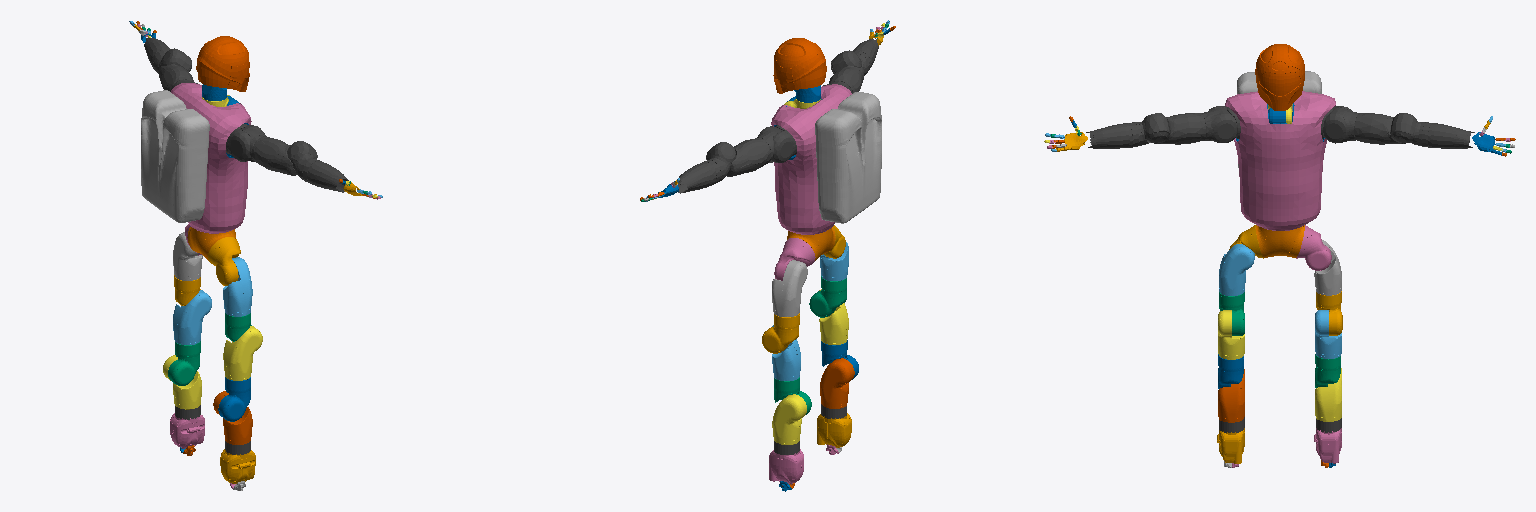
--- Render facts (derived) ---
3 views of the same robot in one strip: view 1: azimuth 30°, elevation 25°; view 2: azimuth 150°, elevation 25°; view 3: azimuth 270°, elevation 25° (orthographic).
Robot: r2 — 128 links, 127 joints (74 revolute, 53 fixed); root link r2/world_ref; default pose: joints at zero except 2 at the middle of their limits (r2/left_arm/joint2 = -2.42, r2/right_arm/joint2 = 2.42).
Visible links, largest first — view 1: r2/backpack, r2/body_cover, r2/head, r2/right_knee, r2/left_knee, r2/right_hip_pitch, r2/right_upper_arm, r2/right_hip_roll, r2/right_lower_leg, r2/left_lower_leg, r2/left_hip_pitch, r2/right_leg_foot (+11 smaller); view 2: r2/backpack, r2/body_cover, r2/head, r2/left_hip_pitch, r2/left_ankle_pitch, r2/right_ankle_pitch, r2/left_upper_arm, r2/left_upper_leg, r2/right_upper_leg, r2/left_leg_foot, r2/right_leg_foot, r2/left_lower_arm (+11 smaller); view 3: r2/body_cover, r2/head, r2/right_hip_pitch, r2/left_upper_arm, r2/right_upper_arm, r2/pelvis, r2/right_lower_arm, r2/left_lower_arm, r2/right_ankle_pitch, r2/left_ankle_pitch, r2/left_shoulder_pitch, r2/right_shoulder_pitch (+13 smaller).
Boxes of the visible links, left/top/right/bottom form: r2/backpack: left=141, top=90, right=209, bottom=222; r2/body_cover: left=171, top=83, right=251, bottom=233; r2/head: left=196, top=36, right=249, bottom=91; r2/right_knee: left=223, top=326, right=262, bottom=380; r2/left_knee: left=173, top=290, right=211, bottom=344; r2/right_hip_pitch: left=223, top=257, right=252, bottom=316; r2/right_upper_arm: left=252, top=136, right=317, bottom=175; r2/right_hip_roll: left=208, top=237, right=240, bottom=285; r2/right_lower_leg: left=218, top=377, right=250, bottom=421; r2/left_lower_leg: left=168, top=341, right=200, bottom=385; r2/left_hip_pitch: left=173, top=232, right=202, bottom=280; r2/right_leg_foot: left=220, top=449, right=255, bottom=483; r2/backpack: left=815, top=92, right=881, bottom=223; r2/body_cover: left=771, top=84, right=851, bottom=234; r2/head: left=773, top=38, right=826, bottom=93; r2/left_hip_pitch: left=772, top=260, right=807, bottom=316; r2/left_ankle_pitch: left=772, top=394, right=806, bottom=444; r2/right_ankle_pitch: left=820, top=358, right=854, bottom=408; r2/left_upper_arm: left=706, top=138, right=770, bottom=176; r2/left_upper_leg: left=762, top=313, right=799, bottom=353; r2/right_upper_leg: left=809, top=276, right=846, bottom=317; r2/left_leg_foot: left=769, top=449, right=803, bottom=484; r2/right_leg_foot: left=817, top=413, right=851, bottom=447; r2/left_lower_arm: left=678, top=160, right=720, bottom=193; r2/body_cover: left=1225, top=91, right=1335, bottom=230; r2/head: left=1255, top=44, right=1304, bottom=110; r2/right_hip_pitch: left=1219, top=244, right=1254, bottom=295; r2/left_upper_arm: left=1354, top=113, right=1413, bottom=144; r2/right_upper_arm: left=1147, top=113, right=1205, bottom=144; r2/pelvis: left=1256, top=225, right=1304, bottom=257; r2/right_lower_arm: left=1086, top=122, right=1138, bottom=148; r2/left_lower_arm: left=1422, top=122, right=1474, bottom=148; r2/right_ankle_pitch: left=1218, top=369, right=1244, bottom=422; r2/left_ankle_pitch: left=1315, top=368, right=1341, bottom=421; r2/left_shoulder_pitch: left=1323, top=108, right=1358, bottom=143; r2/right_shoulder_pitch: left=1202, top=108, right=1236, bottom=142.
Size in the robot's own frame: 0.6534 by 2.4 by 2.4 metres.
Meshes: 32 distinct files referenced, 69 mesh visuals loaded (32 Collada DAE).

The robot description file, URDF, robot "r2":
<?xml version="1.0" ?>
<!-- =================================================================================== -->
<!-- |    This document was autogenerated by xacro from ./robots/r2c1.xacro            | -->
<!-- |    EDITING THIS FILE BY HAND IS NOT RECOMMENDED                                 | -->
<!-- =================================================================================== -->
<robot name="r2" xmlns:xacro="http://www.ros.org/wiki/xacro">
  <link name="r2/world_ref"/>
  <joint name="r2/fixed/world_ref/robot_world" type="fixed">
    <parent link="r2/world_ref"/>
    <child link="r2/robot_world"/>
    <origin rpy="0 0 0" xyz="0 0 0"/>
  </joint>
  <link name="r2/robot_world">
    <inertial>
      <mass value="0.01"/>
      <inertia ixx="0.0001" ixy="0.0" ixz="0.0" iyy="0.0001" iyz="0.0" izz="0.0001"/>
    </inertial>
  </link>
  <joint name="r2/fixed/robot_world/robot_base" type="fixed">
    <parent link="r2/robot_world"/>
    <child link="r2/robot_base"/>
    <origin rpy="0.0 3.14159 3.14159" xyz="0.0 0.0 0.0"/>
  </joint>
  <link name="r2/robot_base">
    <inertial>
      <mass value="0.01"/>
      <inertia ixx="0.0001" ixy="0.0" ixz="0.0" iyy="0.0001" iyz="0.0" izz="0.0001"/>
    </inertial>
  </link>
  <material name="white">
    <color rgba="1.0 1.0 1.0 1.0"/>
  </material>
  <material name="dirty_white">
    <color rgba="0.322 0.322 0.322 1.0"/>
  </material>
  <material name="gold">
    <color rgba=".878 .49 0.008 1"/>
  </material>
  <material name="steel">
    <color rgba=".7 .7 .7 1"/>
  </material>
  <material name="blue">
    <color rgba="0 0 0.8 1"/>
  </material>
  <joint name="r2/fixed/robot_base/waist_mass" type="fixed">
    <parent link="r2/robot_base"/>
    <child link="r2/waist_mass"/>
    <origin rpy="0.0 0 0.0" xyz="0.0 0.0 -0.086855"/>
  </joint>
  <link name="r2/waist_mass">
    <inertial>
      <mass value="4.6259465"/>
      <origin rpy="0.0 0 0.0" xyz="-0.00012809088 0.000041480778 0.039080994"/>
      <inertia ixx="0.01684448" ixy="0.00021529806" ixz="-0.0000036013959" iyy="0.017313387" iyz="0.0" izz="0.028769348"/>
    </inertial>
  </link>
  <joint name="r2/waist/joint0" type="revolute">
    <parent link="r2/robot_base"/>
    <child link="r2/waist_center"/>
    <axis xyz="0 0 1"/>
    <origin rpy="0.0 0 0.0" xyz="0.0 0.0 0.0"/>
    <dynamics damping="10.0" friction="0.0"/>
    <limit effort="10000000.0" lower="-3.14" upper="3.14" velocity="1000"/>
  </joint>
  <!--includes mass properties of all torso componenents-->
  <link name="r2/waist_center">
    <visual>
      <geometry>
        <mesh filename="package://r2_description/meshes/r2_upperbody/Body.dae"/>
      </geometry>
      <origin rpy="-1.5708 0 -1.5708" xyz="0.02 0.05 -0.5625"/>
    </visual>
    <collision>
      <geometry>
        <mesh filename="package://r2_description/meshes/r2_upperbody/Body.dae"/>
      </geometry>
      <origin rpy="-1.5708 0 -1.5708" xyz="0.02 0.05 -0.5625"/>
    </collision>
    <inertial>
      <mass value="47.770842"/>
      <origin rpy="0.0 0 0.0" xyz="-0.020473299 0.0039268948 -0.36456539"/>
      <inertia ixx="1.9926945" ixy="-0.0069480619" ixz="-0.059104048" iyy="1.8449528" iyz="0.01958974" izz="0.69736445"/>
    </inertial>
  </link>
  <joint name="r2/fixed/waist_center/robot_reference" type="fixed">
    <parent link="r2/waist_center"/>
    <child link="r2/robot_reference"/>
    <origin rpy="0.0 0 0.0" xyz="0.1234 0.0 0.0"/>
  </joint>
  <joint name="r2/fixed/waist_center/body_cover" type="fixed">
    <parent link="r2/waist_center"/>
    <child link="r2/body_cover"/>
    <origin rpy="0.0 0.0 0.0" xyz="0 0.0 0.0"/>
  </joint>
  <joint name="r2/fixed/waist_center/backpack" type="fixed">
    <parent link="r2/waist_center"/>
    <child link="r2/backpack"/>
    <origin rpy="0.0 0.0 0.0" xyz="-0.145521 0.0 -0.421894"/>
  </joint>
  <joint name="r2/fixed/waist_center/left_shoulder_jr3" type="fixed">
    <parent link="r2/waist_center"/>
    <child link="r2/left_arm/shoulder/jr3"/>
    <origin rpy="0.0 0.0 1.8326" xyz="-0.0240898 -0.0996837 -0.413899"/>
  </joint>
  <joint name="r2/fixed/waist_center/right_shoulder_jr3" type="fixed">
    <parent link="r2/waist_center"/>
    <child link="r2/right_arm/shoulder/jr3"/>
    <origin rpy="0.0 0.0 -1.83259" xyz="-0.0240898 0.0996837 -0.413899"/>
  </joint>
  <link name="r2/robot_reference">
    <inertial>
      <mass value="0.01"/>
      <inertia ixx="0.0001" ixy="0.0" ixz="0.0" iyy="0.0001" iyz="0.0" izz="0.0001"/>
    </inertial>
  </link>
  <link name="r2/body_cover">
    <visual>
      <geometry>
        <mesh filename="package://r2_description/meshes/r2_upperbody/Body_Cover.dae"/>
      </geometry>
      <origin rpy="-1.5708 0 -1.5708" xyz="0.02 0.05 -0.5625"/>
    </visual>
    <collision>
      <geometry>
        <mesh filename="package://r2_description/meshes/r2_upperbody/Body_Cover.dae"/>
      </geometry>
      <origin rpy="-1.5708 0 -1.5708" xyz="0.02 0.05 -0.5625"/>
    </collision>
    <inertial>
      <mass value="0.1"/>
      <inertia ixx="0.001" ixy="0.0" ixz="0.0" iyy="0.001" iyz="0.0" izz="0.001"/>
    </inertial>
  </link>
  <link name="r2/backpack">
    <visual>
      <geometry>
        <mesh filename="package://r2_description/meshes/r2_upperbody/Backpack.dae"/>
      </geometry>
      <origin rpy="0 0 0.25" xyz="0.145521 0.0 -0.118106"/>
    </visual>
    <collision>
      <geometry>
        <mesh filename="package://r2_description/meshes/r2_upperbody/Backpack.dae"/>
      </geometry>
      <origin rpy="0 0 0.25" xyz="0.145521 0.0 -0.118106"/>
    </collision>
    <inertial>
      <mass value="23.505356"/>
      <origin rpy="0.0 0 0.0" xyz="-0.068110236 0.00026288234 -0.015523324"/>
      <inertia ixx="0.87608758" ixy="0.0031949152" ixz="-0.0042079052" iyy="0.57168416" iyz="0.0067562903" izz="0.41612859"/>
    </inertial>
  </link>
  <link name="r2/left_arm/shoulder/jr3">
    <inertial>
      <mass value="0.01"/>
      <inertia ixx="0.0001" ixy="0.0" ixz="0.0" iyy="0.0001" iyz="0.0" izz="0.0001"/>
    </inertial>
  </link>
  <link name="r2/right_arm/shoulder/jr3">
    <inertial>
      <mass value="0.01"/>
      <inertia ixx="0.0001" ixy="0.0" ixz="0.0" iyy="0.0001" iyz="0.0" izz="0.0001"/>
    </inertial>
  </link>
  <link name="r2/imu">
    <inertial>
      <mass value="0.01"/>
      <inertia ixx="0.0001" ixy="0.0" ixz="0.0" iyy="0.0001" iyz="0.0" izz="0.0001"/>
    </inertial>
  </link>
  <joint name="r2/fixed/robot_base/imu" type="fixed">
    <parent link="r2/waist_center"/>
    <child link="r2/imu"/>
    <origin rpy="1.5708 0 0" xyz="0.017351 -0.116179 -0.112236"/>
  </joint>
  <joint name="r2/neck/joint0" type="revolute">
    <parent link="r2/waist_center"/>
    <child link="r2/neck_lower"/>
    <origin rpy=" -1.5708 0.0 0.0 " xyz=" 0.08636 -0.0285749 -0.614172 "/>
    <dynamics damping="10.0" friction="0.0"/>
    <axis xyz="0 0 1"/>
    <limit effort="10000.0" lower="-0.7" upper="0.175" velocity="1000.0"/>
  </joint>
  <link name="r2/neck_lower">
    <visual>
      <geometry>
        <mesh filename="package://r2_description/meshes/r2_upperbody/Neck_Lower.dae"/>
      </geometry>
      <origin rpy="-1.5708 1.5708 0" xyz="0.0 0.0 0.0285749"/>
    </visual>
    <inertial>
      <mass value="1.531125"/>
      <origin rpy="0 0 0" xyz="-0.044614256 0.031785824 0.021419445"/>
      <inertia ixx="0.0032988044" ixy="0.0014889073" ixz="0.0004970659" iyy="0.0050478224" iyz="-0.00036827305" izz="0.0052160286"/>
    </inertial>
    <collision>
      <geometry>
        <mesh filename="package://r2_description/meshes/r2_upperbody/Neck_Lower.dae"/>
      </geometry>
      <origin rpy="-1.5708 1.5708 0" xyz="0.0 0.0 0.0285749"/>
    </collision>
  </link>
  <joint name="r2/neck/joint1" type="revolute">
    <parent link="r2/neck_lower"/>
    <child link="r2/neck_upper"/>
    <origin rpy=" -1.5708 0.0 0.0 " xyz=" -0.0762002 0.0762004 0.028575"/>
    <dynamics damping="10.0" friction="0.0"/>
    <axis xyz="0 0 1"/>
    <limit effort="10000.0" lower="-1.22" upper="1.22" velocity="1000.0"/>
  </joint>
  <link name="r2/neck_upper">
    <visual>
      <geometry>
        <mesh filename="package://r2_description/meshes/r2_upperbody/Neck_Upper.dae"/>
      </geometry>
      <origin rpy="0 0 1.5708" xyz="0.0762002 0 -0.0762004"/>
    </visual>
    <inertial>
      <mass value="2.234558"/>
      <origin rpy="0 0 0" xyz="0.0127259 0.0072291452 0.048896507"/>
      <inertia ixx="0.0074125667" ixy="-0.00042898316" ixz="-0.0014528455" iyy="0.0080268117" iyz="-0.00076230267" izz="0.00051467581"/>
    </inertial>
    <collision>
      <geometry>
        <mesh filename="package://r2_description/meshes/r2_upperbody/Neck_Upper.dae"/>
      </geometry>
      <origin rpy="0 0 1.5708" xyz="0.0762002 0 -0.0762004"/>
    </collision>
  </link>
  <joint name="r2/neck/joint2" type="revolute">
    <parent link="r2/neck_upper"/>
    <child link="r2/head"/>
    <origin rpy=" 1.5708 0.0 0.0 " xyz="0.0508 0.0074676 0.101587"/>
    <dynamics damping="10.0" friction="0.0"/>
    <axis xyz="0 0 1"/>
    <limit effort="10000.0" lower="-0.7" upper="0.175" velocity="1000.0"/>
  </joint>
  <link name="r2/head">
    <visual>
      <geometry>
        <mesh filename="package://r2_description/meshes/r2_upperbody/Head.dae"/>
      </geometry>
      <origin rpy="0 1.5708 0" xyz="0.0 0.07 0.0074676"/>
    </visual>
    <collision>
      <geometry>
        <mesh filename="package://r2_description/meshes/r2_upperbody/Head.dae"/>
      </geometry>
      <origin rpy="0 1.5708 0" xyz="0.0 0.07 0.0074676"/>
    </collision>
    <inertial>
      <mass value="5.8503785"/>
      <origin rpy="0 0 0" xyz="0.0048289919 0.074486518 0.013796703"/>
      <inertia ixx="0.045520172" ixy="0.0076844267" ixz="0.0005272352" iyy="0.035519354" iyz="0.001323319" izz="0.044699541"/>
    </inertial>
  </link>
  <joint name="r2/fixed/neck_roll/vision_base" type="fixed">
    <parent link="r2/head"/>
    <child link="r2/head/vision_base"/>
    <origin rpy=" 1.5708 0.0 0.0 " xyz=" 0.0 -0.058 0.0074676"/>
  </joint>
  <link name="r2/head/vision_base">
    <inertial>
      <mass value=".1"/>
      <inertia ixx=".0010" ixy="0.0" ixz="0.0" iyy=".0010" iyz="0.0" izz=".0010"/>
    </inertial>
  </link>
  <!-- depth camera -->
  <joint name="r2/fixed/vision_base/swissranger_frame" type="fixed">
    <parent link="r2/head/vision_base"/>
    <child link="r2/head/swissranger_frame"/>
    <!--<origin rpy="1.3908 0.0 1.5708 " xyz="0.1103264 0.0 -0.005523 "/> -->
    <origin rpy="1.5708 0.0 1.5708 " xyz="0.1103264 0.0 -0.005523 "/>
  </joint>
  <link name="r2/head/swissranger_frame">
    <inertial>
      <mass value=".01"/>
      <inertia ixx=".0010" ixy="0.0" ixz="0.0" iyy=".0010" iyz="0.0" izz=".0010"/>
    </inertial>
  </link>
  <!--stereo cameras -->
  <joint name="r2/fixed/vision_base/vision_center_frame" type="fixed">
    <parent link="r2/head/vision_base"/>
    <child link="r2/head/vision_center_frame"/>
    <dynamics damping="1.0"/>
    <origin rpy="1.5708 -1.5708 1.5708" xyz=" 0.066675 0.0 -0.116205 "/>
  </joint>
  <link name="r2/head/vision_center_frame">
    <inertial>
      <mass value=".1"/>
      <inertia ixx=".0010" ixy="0.0" ixz="0.0" iyy=".0010" iyz="0.0" izz=".0010"/>
    </inertial>
  </link>
  <joint name="r2/fixed/vision_center_frame/left_camera_frame" type="fixed">
    <parent link="r2/head/vision_center_frame"/>
    <child link="r2/head/prosilica/left_camera_frame"/>
    <dynamics damping="1.0"/>
    <origin rpy="0 0 -1.5708" xyz="0.0087 0.04887 0.01789"/>
  </joint>
  <link name="r2/head/prosilica/left_camera_frame">
    <inertial>
      <mass value=".1"/>
      <inertia ixx=".0010" ixy="0.0" ixz="0.0" iyy=".0010" iyz="0.0" izz=".0010"/>
    </inertial>
  </link>
  <joint name="r2/fixed/vision_center_frame/right_camera_frame" type="fixed">
    <parent link="r2/head/vision_center_frame"/>
    <child link="r2/head/prosilica/right_camera_frame"/>
    <dynamics damping="1.0"/>
    <origin rpy="0 0 -1.5708" xyz="0.0087 -0.04887 0.01789"/>
  </joint>
  <link name="r2/head/prosilica/right_camera_frame">
    <inertial>
      <mass value=".1"/>
      <inertia ixx=".0010" ixy="0.0" ixz="0.0" iyy=".0010" iyz="0.0" izz=".0010"/>
    </inertial>
  </link>
  <joint name="r2/left_arm/joint0" type="revolute">
    <parent link="r2/left_arm/shoulder/jr3"/>
    <child link="r2/left_shoulder_roll"/>
    <origin rpy="0.0 -1.5708 0.0" xyz="0.0054611 0.0 -0.13041"/>
    <axis xyz="0 0 1"/>
    <dynamics damping="10.0" friction="0.0"/>
    <limit effort="100.0" lower="-2.8270" upper="2.8270" velocity="1000"/>
  </joint>
  <link name="r2/left_shoulder_roll">
    <visual>
      <geometry>
        <mesh filename="package://r2_description/meshes/r2_upperbody/Left_Shoulder_Upper.dae"/>
      </geometry>
      <material name="dirty_white"/>
      <origin rpy="0.0 0.0 3.1416" xyz="0.0 0.0 -0.01274"/>
    </visual>
    <collision>
      <geometry>
        <mesh filename="package://r2_description/meshes/r2_upperbody/Left_Shoulder_Upper.dae"/>
      </geometry>
      <origin rpy="0.0 0.0 3.1416" xyz="0.0 0.0 -0.01274"/>
    </collision>
    <inertial>
      <origin xyz="0.00017093234 -0.0087284787   -0.10884506"/>
      <mass value="7.070314"/>
      <inertia ixx="0.076584602" ixy="0.000086319951" ixz="0.00054609047" iyy="0.08016999" iyz="0.0066841031" izz="0.02390013"/>
    </inertial>
  </link>
  <joint name="r2/left_arm/joint1" type="revolute">
    <parent link="r2/left_shoulder_roll"/>
    <child link="r2/left_shoulder_pitch"/>
    <origin rpy=" 0.0 -1.5708 1.5708" xyz=" 0.0 0.0466596 0.210022 "/>
    <axis xyz="0 0 1"/>
    <dynamics damping="10.0" friction="0.0"/>
    <limit effort="100.0" lower="-1.6758" upper="0.4292" velocity="1000"/>
  </joint>
  <link name="r2/left_shoulder_pitch">
    <visual>
      <geometry>
        <mesh filename="package://r2_description/meshes/r2_upperbody/Left_Shoulder_Lower.dae"/>
      </geometry>
      <material name="dirty_white"/>
      <origin rpy="0.0 0.0 0.0" xyz="0.0 0.0 0.0466596"/>
    </visual>
    <collision>
      <geometry>
        <mesh filename="package://r2_description/meshes/r2_upperbody/Left_Shoulder_Lower.dae"/>
      </geometry>
      <origin rpy="0.0 0.0 0.0" xyz="0.0 0.0 0.0466596"/>
    </collision>
    <inertial>
      <origin xyz="0.034871718 0.00026989995  -0.056391797"/>
      <mass value="4.7275387"/>
      <inertia ixx="0.01281093" ixy="-0.000025211205" ixz="-0.0019887882" iyy="0.026994354" iyz="-0.000056988895" izz="0.028670313"/>
    </inertial>
  </link>
  <joint name="r2/left_arm/joint2" type="revolute">
    <parent link="r2/left_shoulder_pitch"/>
    <child link="r2/left_upper_arm"/>
    <origin rpy="-1.5708 0.0 -1.5708" xyz="0.169324 0 0.0458976"/>
    <axis xyz="0 0 1"/>
    <dynamics damping="10.0" friction="0.0"/>
    <limit effort="100.0" lower="-4.5028" upper="-0.3318" velocity="1000"/>
  </joint>
  <link name="r2/left_upper_arm">
    <visual>
      <geometry>
        <mesh filename="package://r2_description/meshes/r2_upperbody/Left_Upper_Arm.dae"/>
      </geometry>
      <material name="dirty_white"/>
      <origin rpy="0.0 0.0 0.0" xyz="0.0 0.0 -0.067724"/>
    </visual>
    <collision>
      <geometry>
        <mesh filename="package://r2_description/meshes/r2_upperbody/Left_Upper_Arm.dae"/>
      </geometry>
      <origin rpy="0.0 0.0 0.0" xyz="0.0 0.0 -0.067724"/>
    </collision>
    <inertial>
      <origin xyz="0.011979384 -0.0073390714 0.079871897"/>
      <mass value="4.9025709"/>
      <inertia ixx="0.044036190" ixy="0.0013812407" ixz="-0.0068318982" iyy="0.048358309" iyz="0.0035598559" izz="0.016564943"/>
    </inertial>
  </link>
  <joint name="r2/left_arm/joint3" type="revolute">
    <parent link="r2/left_upper_arm"/>
    <child link="r2/left_elbow"/>
    <origin rpy="0.0 -1.5708 1.5708" xyz="0.05334 0.0313243 0.185006"/>
    <axis xyz="0 0 1"/>
    <dynamics damping="1.0" friction="0.0"/>
    <limit effort="100.0" lower="-2.7930" upper="0.0" velocity="1000"/>
  </joint>
  <link name="r2/left_elbow">
    <visual>
      <geometry>
        <mesh filename="package://r2_description/meshes/r2_upperbody/Left_Elbow.dae"/>
      </geometry>
      <material name="dirty_white"/>
      <origin rpy="0 0.0 0" xyz="0 0 0.0313243"/>
    </visual>
    <collision>
      <geometry>
        <mesh filename="package://r2_description/meshes/r2_upperbody/Left_Elbow.dae"/>
      </geometry>
      <origin rpy="0 0.0 0" xyz="0.0 0.0 0.0313243"/>
    </collision>
    <inertial>
      <origin xyz="0.035398630 0.025517855  -0.036241795"/>
      <mass value="2.3377006"/>
      <inertia ixx="0.0067529558" ixy="-0.0026092481" ixz="-0.00060380235" iyy="0.0080987220" iyz="-0.00047453566" izz="0.009863562"/>
    </inertial>
  </link>
  <joint name="r2/left_arm/joint4" type="revolute">
    <parent link="r2/left_elbow"/>
    <child link="r2/left_joint4_output"/>
    <origin rpy="-0.9550 1.5708 -0.9550" xyz="0.0541223 0.0533300 0.0305397"/>
    <axis xyz="0 0 1"/>
    <dynamics damping="1.0" friction="0.0"/>
    <limit effort="100.0" lower="-1.5360" upper="4.6770" velocity="1000"/>
  </joint>
  <link name="r2/left_joint4_output">
    <inertial>
      <mass value="0.01"/>
      <inertia ixx="0.0001" ixy="0.0" ixz="0.0" iyy="0.0001" iyz="0.0" izz="0.0001"/>
    </inertial>
  </link>
  <joint name="r2/fixed/left_lower_arm/left_forearm_jr3" type="fixed">
    <parent link="r2/left_joint4_output"/>
    <child link="r2/left_arm/forearm/jr3"/>
    <origin rpy="3.1416 0.0 0.78539" xyz="0.0 0.0 0.0897574"/>
  </joint>
  <link name="r2/left_arm/forearm/jr3">
    <inertial>
      <mass value="0.01"/>
      <inertia ixx="0.0001" ixy="0.0" ixz="0.0" iyy="0.0001" iyz="0.0" izz="0.0001"/>
    </inertial>
  </link>
  <joint name="r2/fixed/left_lower_arm/left_forearm" type="fixed">
    <parent link="r2/left_arm/forearm/jr3"/>
    <child link="r2/left_lower_arm"/>
    <origin rpy="3.1416 0.0 0.7854" xyz="0.0 0.0 0.0897574"/>
  </joint>
  <link name="r2/left_lower_arm">
    <visual>
      <geometry>
        <mesh filename="package://r2_description/meshes/r2_upperbody/Left_Forearm.dae"/>
      </geometry>
      <material name="dirty_white"/>
      <origin rpy="0 0 1.5708" xyz="0 0.0 0.0458777"/>
    </visual>
    <collision>
      <geometry>
        <mesh filename="package://r2_description/meshes/r2_upperbody/Left_Forearm.dae"/>
      </geometry>
      <origin rpy="0 0 1.5708" xyz="0 0.0 0.0458777"/>
    </collision>
    <inertial>
      <origin xyz="0.0039950818 0.00044312736  0.16275601"/>
      <mass value="8.1525875"/>
      <inertia ixx="0.10706156" ixy="0.00070538028" ixz="-0.0061176777" iyy="0.11007507" iyz="0.0020551081" izz="0.015240452"/>
    </inertial>
  </link>
  <joint name="r2/left_arm/wrist/pitch" type="revolute">
    <parent link="r2/left_lower_arm"/>
    <child link="r2/left_wrist_pitch"/>
    <origin rpy="0 -1.5708 0.0 " xyz="0.000616510 0 0.301768"/>
    <axis xyz="0 0 1"/>
    <dynamics damping="1.0" friction="0.0"/>
    <limit effort="100.0" lower="-0.8" upper="0.8" velocity="1000"/>
  </joint>
  <link name="r2/left_wrist_pitch">
    <inertial>
      <origin xyz="0.0 0.0 0.0"/>
      <mass value="0.01"/>
      <inertia ixx="0.0001" ixy="0.0" ixz="0.0" iyy="0.0001" iyz="0.0" izz="0.0001"/>
    </inertial>
  </link>
  <joint name="r2/left_arm/wrist/yaw" type="revolute">
    <parent link="r2/left_wrist_pitch"/>
    <child link="r2/left_wrist_yaw"/>
    <origin rpy="1.5708 0.0646 -0.0802" xyz="0.00635 0 0.00041451"/>
    <axis xyz="0 0 1"/>
    <dynamics damping="1.0" friction="0.0"/>
    <limit effort="100.0" lower="-0.75" upper="0.15" velocity="1000"/>
  </joint>
  <link name="r2/left_wrist_yaw">
    <inertial>
      <origin xyz="0.0 0.0 0.0"/>
      <mass value="0.01"/>
      <inertia ixx="0.0001" ixy="0.0" ixz="0.0" iyy="0.0001" iyz="0.0" izz="0.0001"/>
    </inertial>
  </link>
  <joint name="r2/fixed/left_wrist_yaw/left_palm" type="fixed">
    <parent link="r2/left_wrist_yaw"/>
    <child link="r2/left_palm"/>
    <origin rpy=" 0.0 0.0 0" xyz=" 0.0 0.0 0.0 "/>
  </joint>
  <link name="r2/left_palm">
    <visual>
      <geometry>
        <mesh filename="package://r2_description/meshes/r2_upperbody/Left_Palm.dae"/>
      </geometry>
      <origin rpy="3.1416 0 1.5708" xyz="0.0 0.0 0.0"/>
    </visual>
    <collision>
      <geometry>
        <mesh filename="package://r2_description/meshes/r2_upperbody/Left_Palm.dae"/>
      </geometry>
      <origin rpy="3.1416 0 1.5708" xyz="0.0 0.0 0.0"/>
    </collision>
    <inertial>
      <mass value="0.01"/>
      <inertia ixx="0.0001" ixy="0.0" ixz="0.0" iyy="0.0001" iyz="0.0" izz="0.0001"/>
    </inertial>
  </link>
  <!--
  <property name="left_arm_hand_index_j3_damping" value= "0.1" />
  <property name="left_arm_hand_index_j3_friction" value= "0.0" />
-->
  <!--
  <property name="left_arm_hand_middle_j3_damping" value= "0.1" />
  <property name="left_arm_hand_middle_j3_friction" value= "0.0" />
-->
  <!--
  <property name="left_arm_hand_ring_j1_damping" value= "0.1" />
  <property name="left_arm_hand_ring_j1_friction" value= "0.0" />
  <property name="left_arm_hand_ring_j2_damping" value= "0.1" />
  <property name="left_arm_hand_ring_j2_friction" value= "0.0" />
-->
  <!--
  <property name="left_arm_hand_little_j1_damping" value= "0.1" />
  <property name="left_arm_hand_little_j1_friction" value= "0.0" />
  <property name="left_arm_hand_little_j2_damping" value= "0.1" />
  <property name="left_arm_hand_little_j2_friction" value= "0.0" />
-->
  <joint name="r2/left_arm/hand/thumb/roll" type="revolute">
    <parent link="r2/left_wrist_yaw"/>
    <child link="r2/left_thumb_base"/>
    <origin rpy=" -1.5708 0.0 1.30899702752 " xyz=" 0.03302 0.03048 0.00635 "/>
    <axis xyz="0 0 1"/>
    <limit effort="10000000.0" lower="-4" upper="4" velocity="1000"/>
    <dynamics damping="0.1" friction="0.0"/>
  </joint>
  <joint name="r2/fixed/left_index_base/left_index_base" type="fixed">
    <parent link="r2/left_wrist_yaw"/>
    <child link="r2/left_index_base"/>
    <origin rpy=" 0.0 0.0 0.122172725275 " xyz=" 0.0994646728 0.0271119346 -0.0161544 "/>
  </joint>
  <joint name="r2/left_arm/hand/index/yaw" type="revolute">
    <parent link="r2/left_index_base"/>
    <child link="r2/left_index_yaw"/>
    <origin rpy="0.0 0.0 0.0" xyz="0.0 0.0 0.0"/>
    <axis xyz="0 0 1"/>
    <limit effort="10000000.0" lower="-4" upper="4" velocity="1000"/>
    <dynamics damping="0.1" friction="0.0"/>
  </joint>
  <joint name="r2/fixed/left_middle_base/left_middle_base" type="fixed">
    <parent link="r2/left_wrist_yaw"/>
    <child link="r2/left_middle_base"/>
    <origin rpy=" 0.0 0.0 0.0 " xyz=" 0.10646537 0.00254 -0.0161544 "/>
  </joint>
  <joint name="r2/left_arm/hand/middle/yaw" type="revolute">
    <parent link="r2/left_middle_base"/>
    <child link="r2/left_middle_yaw"/>
    <origin rpy="0.0 0.0 0.0" xyz="0.0 0.0 0.0"/>
    <axis xyz="0 0 1"/>
    <limit effort="10000000.0" lower="-4" upper="4" velocity="1000"/>
    <dynamics damping="0.1" friction="0.0"/>
  </joint>
  <joint name="r2/left_arm/hand/ringlittle/ring" type="revolute">
    <parent link="r2/left_wrist_yaw"/>
    <child link="r2/left_ring_proximal"/>
    <origin rpy=" 1.5708 -0.0 -0.122172725275 " xyz=" 0.1084570602 -0.0197673468 -0.012319 "/>
    <axis xyz="0 0 1"/>
    <limit effort="10000000.0" lower="-4" upper="4" velocity="1000"/>
    <dynamics damping="0.1" friction="0.0"/>
  </joint>
  <joint name="r2/left_arm/hand/ringlittle/little" type="revolute">
    <parent link="r2/left_wrist_yaw"/>
    <child link="r2/left_little_proximal"/>
    <origin rpy=" 1.60570321374 -0.0872667473393 -0.17453258148 " xyz=" 0.094635701 -0.0403792436 -0.0060878212 "/>
    <axis xyz="0 0 1"/>
    <limit effort="10000000.0" lower="-4" upper="4" velocity="1000"/>
    <dynamics damping="0.1" friction="0.0"/>
  </joint>
  <link name="r2/left_thumb_base">
    <inertial>
      <mass value=".05"/>
      <inertia ixx=".0010" ixy="0.0" ixz="0.0" iyy=".0010" iyz="0.0" izz=".0010"/>
    </inertial>
  </link>
  <joint name="r2/fixed/left_thumb_base/left_thumb_proximal" type="fixed">
    <parent link="r2/left_thumb_base"/>
    <child link="r2/left_thumb_proximal"/>
    <origin rpy=" -1.5708 -0.0 0.0 " xyz=" 0.011938 0.0 0.0 "/>
  </joint>
  <link name="r2/left_thumb_proximal">
    <inertial>
      <mass value=".0010"/>
      <inertia ixx=".0010" ixy="0.0" ixz="0.0" iyy=".0010" iyz="0.0" izz=".0010"/>
    </inertial>
    <visual>
      <geometry>
        <mesh filename="package://r2_description/meshes/r2_upperbody/Left_Thumb_Carp.dae"/>
      </geometry>
      <origin rpy="-1.5708 0 0" xyz="-0.01 0.0 0.0"/>
    </visual>
    <collision>
      <geometry>
        <mesh filename="package://r2_description/meshes/r2_upperbody/Left_Thumb_Carp.dae"/>
      </geometry>
      <origin rpy="-1.5708 0 0" xyz="-0.01 0.0 0.0"/>
    </collision>
  </link>
  <joint name="r2/left_arm/hand/thumb/proximal" type="revolute">
    <parent link="r2/left_thumb_proximal"/>
    <child link="r2/left_thumb_medial_prime"/>
    <origin rpy=" 0.0 0.0 0.0 " xyz=" 0.0 0.0 0.0 "/>
    <axis xyz="0 0 1"/>
    <limit effort="10000000.0" lower="-4" upper="4" velocity="1000"/>
    <dynamics damping="0.1" friction="0.0"/>
  </joint>
  <link name="r2/left_thumb_medial_prime">
    <inertial>
      <mass value=".0010"/>
      <inertia ixx=".0010" ixy="0.0" ixz="0.0" iyy=".0010" iyz="0.0" izz=".0010"/>
    </inertial>
    <visual>
      <geometry>
        <mesh filename="package://r2_description/meshes/r2_upperbody/Left_Thumb_MtCar.dae"/>
      </geometry>
      <origin rpy="-1.5708 -1.5708 0" xyz="-0.0 0 0.0"/>
    </visual>
    <collision>
      <geometry>
        <mesh filename="package://r2_description/meshes/r2_upperbody/Left_Thumb_MtCar.dae"/>
      </geometry>
      <origin rpy="-1.5708 -1.5708 0" xyz="0.0 0.0 0.0"/>
    </collision>
  </link>
  <joint name="r2/left_arm/hand/thumb/medial" type="revolute">
    <parent link="r2/left_thumb_medial_prime"/>
    <child link="r2/left_thumb_medial"/>
    <origin rpy=" -0.698132284627 -0.0 0.0 " xyz=" 0.030734 -0.001905 0.00254 "/>
    <axis xyz="0 0 1"/>
    <limit effort="10000000.0" lower="-4" upper="4" velocity="1000"/>
    <dynamics damping="0.1" friction="0.0"/>
  </joint>
  <link name="r2/left_thumb_medial">
    <inertial>
      <mass value=".0010"/>
      <inertia ixx=".0010" ixy="0.0" ixz="0.0" iyy=".0010" iyz="0.0" izz=".0010"/>
    </inertial>
    <visual>
      <geometry>
        <mesh filename="package://r2_description/meshes/r2_upperbody/Thumb_Proximal.dae"/>
      </geometry>
      <origin rpy="3.1416 0 1.5708" xyz="0.0 0.0 0.0"/>
    </visual>
    <collision>
      <geometry>
        <mesh filename="package://r2_description/meshes/r2_upperbody/Thumb_Proximal.dae"/>
      </geometry>
      <origin rpy="3.1416 0 1.5708" xyz="0.0 0.0 0.0"/>
    </collision>
  </link>
  <joint name="r2/left_arm/hand/thumb/distal" type="revolute">
    <parent link="r2/left_thumb_medial"/>
    <child link="r2/left_thumb_distal"/>
    <origin rpy=" 0.0 0.0 0.0 " xyz=" 0.03937 0.0 0.0 "/>
    <axis xyz="0 0 1"/>
    <limit effort="10000000.0" lower="-4" upper="4" velocity="1000"/>
    <dynamics damping="0.1" friction="0.0"/>
  </joint>
  <link name="r2/left_thumb_distal">
    <inertial>
      <mass value=".0010"/>
      <inertia ixx=".0010" ixy="0.0" ixz="0.0" iyy=".0010" iyz="0.0" izz=".0010"/>
    </inertial>
    <visual>
      <geometry>
        <mesh filename="package://r2_description/meshes/r2_upperbody/Thumb_Dist.dae"/>
      </geometry>
      <origin rpy="3.1416 3.1416 0" xyz="0.0 0.0 0.0"/>
    </visual>
    <collision>
      <geometry>
        <mesh filename="package://r2_description/meshes/r2_upperbody/Thumb_Dist.dae"/>
      </geometry>
      <origin rpy="3.1416 3.1416 0" xyz="0.0 0.0 0.0"/>
    </collision>
  </link>
  <joint name="r2/fixed/left_thumb_distal/left_thumb_tip" type="fixed">
    <parent link="r2/left_thumb_distal"/>
    <child link="r2/left_thumb_tip"/>
    <origin rpy=" 0.0 0.0 0.0 " xyz=" 0.03302 0.0 0.0 "/>
  </joint>
  <link name="r2/left_thumb_tip">
    <inertial>
      <mass value=".0010"/>
      <inertia ixx=".0010" ixy="0.0" ixz="0.0" iyy=".0010" iyz="0.0" izz=".0010"/>
    </inertial>
  </link>
  <link name="r2/left_index_base">
    <inertial>
      <mass value=".0010"/>
      <inertia ixx=".0010" ixy="0.0" ixz="0.0" iyy=".0010" iyz="0.0" izz=".0010"/>
    </inertial>
  </link>
  <link name="r2/left_index_yaw">
    <inertial>
      <mass value=".0010"/>
      <inertia ixx=".0010" ixy="0.0" ixz="0.0" iyy=".0010" iyz="0.0" izz=".0010"/>
    </inertial>
  </link>
  <joint name="r2/left_arm/hand/index/proximal" type="revolute">
    <parent link="r2/left_index_yaw"/>
    <child link="r2/left_index_proximal"/>
    <origin rpy=" 1.5708 0.0 0.0 " xyz=" 0.009652 0.0 0.0 "/>
    <axis xyz="0 0 1"/>
    <limit effort="10000000.0" lower="-4" upper="4" velocity="1000"/>
    <dynamics damping="0.1" friction="0.0"/>
  </joint>
  <link name="r2/left_index_proximal">
    <inertial>
      <mass value=".0010"/>
      <inertia ixx=".0010" ixy="0.0" ixz="0.0" iyy=".0010" iyz="0.0" izz=".0010"/>
    </inertial>
    <visual>
      <geometry>
        <mesh filename="package://r2_description/meshes/r2_upperbody/Finger_Proximal.dae"/>
      </geometry>
      <origin rpy="0 0 1.5708" xyz="0.0 0.0 0.0"/>
    </visual>
    <collision>
      <geometry>
        <mesh filename="package://r2_description/meshes/r2_upperbody/Finger_Proximal.dae"/>
      </geometry>
      <origin rpy="0 0 1.5708" xyz="0.0 0.0 0.0"/>
    </collision>
  </link>
  <joint name="r2/left_arm/hand/index/medial" type="revolute">
    <parent link="r2/left_index_proximal"/>
    <child link="r2/left_index_medial"/>
    <origin rpy=" 0.0 0.0 0.0 " xyz=" 0.04445 0.0 0.0 "/>
    <axis xyz="0 0 1"/>
    <limit effort="10000000.0" lower="-4" upper="4" velocity="1000"/>
    <dynamics damping="0.1" friction="0.0"/>
  </joint>
  <link name="r2/left_index_medial">
    <inertial>
      <mass value=".0010"/>
      <inertia ixx=".0010" ixy="0.0" ixz="0.0" iyy=".0010" iyz="0.0" izz=".0010"/>
    </inertial>
    <visual>
      <geometry>
        <mesh filename="package://r2_description/meshes/r2_upperbody/Finger_Mid.dae"/>
      </geometry>
      <origin rpy="3.1416 0 1.5708" xyz="0.0 0.0 0.0"/>
    </visual>
    <collision>
      <geometry>
        <mesh filename="package://r2_description/meshes/r2_upperbody/Finger_Mid.dae"/>
      </geometry>
      <origin rpy="3.1416 0 1.5708" xyz="0.0 0.0 0.0"/>
    </collision>
  </link>
  <link name="r2/left_middle_base">
    <inertial>
      <mass value=".0010"/>
      <inertia ixx=".0010" ixy="0.0" ixz="0.0" iyy=".0010" iyz="0.0" izz=".0010"/>
    </inertial>
  </link>
  <link name="r2/left_middle_yaw">
    <inertial>
      <mass value=".0010"/>
      <inertia ixx=".0010" ixy="0.0" ixz="0.0" iyy=".0010" iyz="0.0" izz=".0010"/>
    </inertial>
  </link>
  <joint name="r2/left_arm/hand/middle/proximal" type="revolute">
    <parent link="r2/left_middle_yaw"/>
    <child link="r2/left_middle_proximal"/>
    <origin rpy=" 1.5708 0.0 0.0 " xyz=" 0.009652 0.0 0.0 "/>
    <axis xyz="0 0 1"/>
    <limit effort="10000000.0" lower="-4" upper="4" velocity="1000"/>
    <dynamics damping="0.1" friction="0.0"/>
  </joint>
  <link name="r2/left_middle_proximal">
    <inertial>
      <mass value=".0010"/>
      <inertia ixx=".0010" ixy="0.0" ixz="0.0" iyy=".0010" iyz="0.0" izz=".0010"/>
    </inertial>
    <visual>
      <geometry>
        <mesh filename="package://r2_description/meshes/r2_upperbody/Finger_Proximal.dae"/>
      </geometry>
      <origin rpy="0 0 1.5708" xyz="0.0 0.0 0.0"/>
    </visual>
    <collision>
      <geometry>
        <mesh filename="package://r2_description/meshes/r2_upperbody/Finger_Proximal.dae"/>
      </geometry>
      <origin rpy="0 0 1.5708" xyz="0.0 0.0 0.0"/>
    </collision>
  </link>
  <joint name="r2/left_arm/hand/middle/medial" type="revolute">
    <parent link="r2/left_middle_proximal"/>
    <child link="r2/left_middle_medial"/>
    <origin rpy=" 0.0 0.0 0.0 " xyz=" 0.04445 0.0 0.0 "/>
    <axis xyz="0 0 1"/>
    <limit effort="10000000.0" lower="-4" upper="4" velocity="1000"/>
    <dynamics damping="0.1" friction="0.0"/>
  </joint>
  <link name="r2/left_middle_medial">
    <inertial>
      <mass value=".0010"/>
      <inertia ixx=".0010" ixy="0.0" ixz="0.0" iyy=".0010" iyz="0.0" izz=".0010"/>
    </inertial>
    <visual>
      <geometry>
        <mesh filename="package://r2_description/meshes/r2_upperbody/Finger_Mid.dae"/>
      </geometry>
      <origin rpy="3.1416 0 1.5708" xyz="0.0 0.0 0.0"/>
    </visual>
    <collision>
      <geometry>
        <mesh filename="package://r2_description/meshes/r2_upperbody/Finger_Mid.dae"/>
      </geometry>
      <origin rpy="3.1416 0 1.5708" xyz="0.0 0.0 0.0"/>
    </collision>
  </link>
  <link name="r2/left_ring_proximal">
    <inertial>
      <mass value=".0010"/>
      <inertia ixx=".0010" ixy="0.0" ixz="0.0" iyy=".0010" iyz="0.0" izz=".0010"/>
    </inertial>
    <visual>
      <geometry>
        <mesh filename="package://r2_description/meshes/r2_upperbody/Finger_Proximal.dae"/>
      </geometry>
      <origin rpy="0 0 1.5708" xyz="0.0 0.0 0.0"/>
    </visual>
    <collision>
      <geometry>
        <mesh filename="package://r2_description/meshes/r2_upperbody/Finger_Proximal.dae"/>
      </geometry>
      <origin rpy="0 0 1.5708" xyz="0.0 0.0 0.0"/>
    </collision>
  </link>
  <link name="r2/left_little_proximal">
    <inertial>
      <mass value=".0010"/>
      <inertia ixx=".0010" ixy="0.0" ixz="0.0" iyy=".0010" iyz="0.0" izz=".0010"/>
    </inertial>
    <visual>
      <geometry>
        <mesh filename="package://r2_description/meshes/r2_upperbody/Finger_Proximal.dae"/>
      </geometry>
      <origin rpy="0 0 1.5708" xyz="0.0 0.0 0.0"/>
    </visual>
    <collision>
      <geometry>
        <mesh filename="package://r2_description/meshes/r2_upperbody/Finger_Proximal.dae"/>
      </geometry>
      <origin rpy="0 0 1.5708" xyz="0.0 0.0 0.0"/>
    </collision>
  </link>
  <joint name="r2/left_arm/hand/index/distal" type="revolute">
    <parent link="r2/left_index_medial"/>
    <child link="r2/left_index_distal"/>
    <origin rpy=" 0.0 0.0 0.0 " xyz=" 0.03048 0.0 0.0 "/>
    <axis xyz="0 0 1"/>
    <limit effort="10000000.0" lower="-4" upper="4" velocity="1000"/>
    <dynamics damping="0.1" friction="0.0"/>
  </joint>
  <link name="r2/left_index_distal">
    <inertial>
      <mass value=".0010"/>
      <inertia ixx=".0010" ixy="0.0" ixz="0.0" iyy=".0010" iyz="0.0" izz=".0010"/>
    </inertial>
    <visual>
      <geometry>
        <mesh filename="package://r2_description/meshes/r2_upperbody/Finger_Dist.dae"/>
      </geometry>
      <origin rpy="0 -1.57 0" xyz="0.0 0.0 0.0"/>
    </visual>
    <collision>
      <geometry>
        <mesh filename="package://r2_description/meshes/r2_upperbody/Finger_Dist.dae"/>
      </geometry>
      <origin rpy="0 -1.57 0" xyz="0.0 0.0 0.0"/>
    </collision>
  </link>
  <joint name="r2/fixed/left_index_distal/left_index_tip" type="fixed">
    <parent link="r2/left_index_distal"/>
    <child link="r2/left_index_tip"/>
    <origin rpy=" 0.0 -0.0 0.0 " xyz=" 0.024638 0.0 0.0 "/>
  </joint>
  <link name="r2/left_index_tip">
    <inertial>
      <mass value=".0010"/>
      <inertia ixx=".0010" ixy="0.0" ixz="0.0" iyy=".0010" iyz="0.0" izz=".0010"/>
    </inertial>
  </link>
  <joint name="r2/left_arm/hand/middle/distal" type="revolute">
    <parent link="r2/left_middle_medial"/>
    <child link="r2/left_middle_distal"/>
    <origin rpy=" 0.0 -0.0 0.0 " xyz=" 0.03048 0.0 0.0 "/>
    <axis xyz="0 0 1"/>
    <limit effort="10000000.0" lower="-4" upper="4" velocity="1000"/>
    <dynamics damping="0.1" friction="0.0"/>
  </joint>
  <link name="r2/left_middle_distal">
    <inertial>
      <mass value=".0010"/>
      <inertia ixx=".0010" ixy="0.0" ixz="0.0" iyy=".0010" iyz="0.0" izz=".0010"/>
    </inertial>
    <visual>
      <geometry>
        <mesh filename="package://r2_description/meshes/r2_upperbody/Finger_Dist.dae"/>
      </geometry>
      <origin rpy="0 -1.57 0" xyz="0.0 0.0 0.0"/>
    </visual>
    <collision>
      <geometry>
        <mesh filename="package://r2_description/meshes/r2_upperbody/Finger_Dist.dae"/>
      </geometry>
      <origin rpy="0 -1.57 0" xyz="0.0 0.0 0.0"/>
    </collision>
  </link>
  <joint name="r2/fixed/left_middle_distal/left_middle_tip" type="fixed">
    <parent link="r2/left_middle_distal"/>
    <child link="r2/left_middle_tip"/>
    <origin rpy=" 0.0 -0.0 0.0 " xyz=" 0.024638 0.0 0.0 "/>
  </joint>
  <link name="r2/left_middle_tip">
    <inertial>
      <mass value=".0010"/>
      <inertia ixx=".0010" ixy="0.0" ixz="0.0" iyy=".0010" iyz="0.0" izz=".0010"/>
    </inertial>
  </link>
  <joint name="r2/left_arm/hand/ringlittle/ringMedial" type="revolute">
    <parent link="r2/left_ring_proximal"/>
    <child link="r2/left_ring_medial"/>
    <origin rpy=" 0.0 -0.0 0.0 " xyz=" 0.04445 0.0 0.0 "/>
    <axis xyz="0 0 1"/>
    <limit effort="10000000.0" lower="-4" upper="4" velocity="1000"/>
    <dynamics damping="0.1" friction="0.0"/>
  </joint>
  <link name="r2/left_ring_medial">
    <inertial>
      <mass value=".0010"/>
      <inertia ixx=".0010" ixy="0.0" ixz="0.0" iyy=".0010" iyz="0.0" izz=".0010"/>
    </inertial>
    <visual>
      <geometry>
        <mesh filename="package://r2_description/meshes/r2_upperbody/Finger_Mid.dae"/>
      </geometry>
      <origin rpy="3.14 0 1.57" xyz="0.0 0.0 0.0"/>
    </visual>
    <collision>
      <geometry>
        <mesh filename="package://r2_description/meshes/r2_upperbody/Finger_Mid.dae"/>
      </geometry>
      <origin rpy="3.14 0 1.57" xyz="0.0 0.0 0.0"/>
    </collision>
  </link>
  <joint name="r2/left_arm/hand/ringlittle/ringDistal" type="revolute">
    <parent link="r2/left_ring_medial"/>
    <child link="r2/left_ring_distal"/>
    <origin rpy=" 0.0 -0.0 0.0 " xyz=" 0.03048 0.0 0.0 "/>
    <axis xyz="0 0 1"/>
    <limit effort="10000000.0" lower="-4" upper="4" velocity="1000"/>
    <dynamics damping="0.1" friction="0.0"/>
  </joint>
  <link name="r2/left_ring_distal">
    <inertial>
      <mass value=".0010"/>
      <inertia ixx=".0010" ixy="0.0" ixz="0.0" iyy=".0010" iyz="0.0" izz=".0010"/>
    </inertial>
    <visual>
      <geometry>
        <mesh filename="package://r2_description/meshes/r2_upperbody/Finger_Dist.dae"/>
      </geometry>
      <origin rpy="0 -1.57 0" xyz="0.0 0.0 0.0"/>
    </visual>
    <collision>
      <geometry>
        <mesh filename="package://r2_description/meshes/r2_upperbody/Finger_Dist.dae"/>
      </geometry>
      <origin rpy="0 -1.57 0" xyz="0.0 0.0 0.0"/>
    </collision>
  </link>
  <joint name="r2/fixed/left_ring_distal/left_ring_tip" type="fixed">
    <parent link="r2/left_ring_distal"/>
    <child link="r2/left_ring_tip"/>
    <origin rpy=" 0.0 -0.0 0.0 " xyz=" 0.024638 0.0 0.0 "/>
  </joint>
  <link name="r2/left_ring_tip">
    <inertial>
      <mass value=".0010"/>
      <inertia ixx=".0010" ixy="0.0" ixz="0.0" iyy=".0010" iyz="0.0" izz=".0010"/>
    </inertial>
  </link>
  <joint name="r2/left_arm/hand/ringlittle/littleMedial" type="revolute">
    <parent link="r2/left_little_proximal"/>
    <child link="r2/left_little_medial"/>
    <origin rpy=" 0.0 -0.0 0.0 " xyz=" 0.04445 0.0 0.0 "/>
    <axis xyz="0 0 1"/>
    <limit effort="10000000.0" lower="-4" upper="4" velocity="1000"/>
    <dynamics damping="0.1" friction="0.0"/>
  </joint>
  <link name="r2/left_little_medial">
    <inertial>
      <mass value=".0010"/>
      <inertia ixx=".0010" ixy="0.0" ixz="0.0" iyy=".0010" iyz="0.0" izz=".0010"/>
    </inertial>
    <visual>
      <geometry>
        <mesh filename="package://r2_description/meshes/r2_upperbody/Finger_Mid.dae"/>
      </geometry>
      <origin rpy="3.14 0 1.57" xyz="0.0 0.0 0.0"/>
    </visual>
    <collision>
      <geometry>
        <mesh filename="package://r2_description/meshes/r2_upperbody/Finger_Mid.dae"/>
      </geometry>
      <origin rpy="3.14 0 1.57" xyz="0.0 0.0 0.0"/>
    </collision>
  </link>
  <joint name="r2/left_arm/hand/ringlittle/littleDistal" type="revolute">
    <parent link="r2/left_little_medial"/>
    <child link="r2/left_little_distal"/>
    <origin rpy=" 0.0 -0.0 0.0 " xyz=" 0.03048 0.0 0.0 "/>
    <axis xyz="0 0 1"/>
    <limit effort="10000000.0" lower="-4" upper="4" velocity="1000"/>
    <dynamics damping="0.1" friction="0.0"/>
  </joint>
  <link name="r2/left_little_distal">
    <inertial>
      <mass value=".0010"/>
      <inertia ixx=".0010" ixy="0.0" ixz="0.0" iyy=".0010" iyz="0.0" izz=".0010"/>
    </inertial>
    <visual>
      <geometry>
        <mesh filename="package://r2_description/meshes/r2_upperbody/Finger_Dist.dae"/>
      </geometry>
      <origin rpy="0 -1.57 0" xyz="0.0 0.0 0.0"/>
    </visual>
    <collision>
      <geometry>
        <mesh filename="package://r2_description/meshes/r2_upperbody/Finger_Dist.dae"/>
      </geometry>
      <origin rpy="0 -1.57 0" xyz="0.0 0.0 0.0"/>
    </collision>
  </link>
  <joint name="r2/fixed/left_little_distal/left_little_tip" type="fixed">
    <parent link="r2/left_little_distal"/>
    <child link="r2/left_little_tip"/>
    <origin rpy=" 0.0 -0.0 0.0 " xyz=" 0.024638 0.0 0.0 "/>
  </joint>
  <link name="r2/left_little_tip">
    <inertial>
      <mass value=".0010"/>
      <inertia ixx=".0010" ixy="0.0" ixz="0.0" iyy=".0010" iyz="0.0" izz=".0010"/>
    </inertial>
  </link>
  <joint name="r2/right_arm/joint0" type="revolute">
    <parent link="r2/right_arm/shoulder/jr3"/>
    <child link="r2/right_shoulder_roll"/>
    <origin rpy="0.0 -1.5708 0.0" xyz="0.0054611 0.0 -0.13041"/>
    <axis xyz="0 0 1"/>
    <dynamics damping="10.0" friction="0.0"/>
    <limit effort="100.0" lower="-2.8270" upper="2.8270" velocity="1000"/>
  </joint>
  <link name="r2/right_shoulder_roll">
    <visual>
      <geometry>
        <mesh filename="package://r2_description/meshes/r2_upperbody/Right_Shoulder_Upper.dae"/>
      </geometry>
      <material name="dirty_white"/>
      <origin rpy="0.0 0.0 -2.4624" xyz="0.0 0.0 -0.07734"/>
    </visual>
    <collision>
      <geometry>
        <mesh filename="package://r2_description/meshes/r2_upperbody/Right_Shoulder_Upper.dae"/>
      </geometry>
      <origin rpy="0.0 0.0 -2.4624" xyz="0.0 0.0 -0.07234"/>
    </collision>
    <inertial>
      <origin xyz="0.00017093234 -0.0087284787   -0.10884506"/>
      <mass value="7.070314"/>
      <inertia ixx="0.076584602" ixy="0.000086319951" ixz="0.00054609047" iyy="0.08016999" iyz="0.0066841031" izz="0.02390013"/>
    </inertial>
  </link>
  <joint name="r2/right_arm/joint1" type="revolute">
    <parent link="r2/right_shoulder_roll"/>
    <child link="r2/right_shoulder_pitch"/>
    <origin rpy=" 0.0 -1.5708 1.5708" xyz=" 0.0 -0.0466596 0.210022 "/>
    <axis xyz="0 0 1"/>
    <dynamics damping="10.0" friction="0.0"/>
    <limit effort="100.0" lower="-1.6758" upper="0.4292" velocity="1000"/>
  </joint>
  <link name="r2/right_shoulder_pitch">
    <visual>
      <geometry>
        <mesh filename="package://r2_description/meshes/r2_upperbody/Right_Shoulder_Lower.dae"/>
      </geometry>
      <material name="dirty_white"/>
      <origin rpy="0.0 0.0 0.0" xyz="0.0 0.0 -0.0466596"/>
    </visual>
    <collision>
      <geometry>
        <mesh filename="package://r2_description/meshes/r2_upperbody/Right_Shoulder_Lower.dae"/>
      </geometry>
      <origin rpy="0.0 0.0 0.0" xyz="0.0 0.0 -0.0466596"/>
    </collision>
    <inertial>
      <origin xyz="0.034871718 0.00026989995  -0.056391797"/>
      <mass value="4.7275387"/>
      <inertia ixx="0.01281093" ixy="-0.000025211205" ixz="-0.0019887882" iyy="0.026994354" iyz="-0.000056988895" izz="0.028670313"/>
    </inertial>
  </link>
  <joint name="r2/right_arm/joint2" type="revolute">
    <parent link="r2/right_shoulder_pitch"/>
    <child link="r2/right_upper_arm"/>
    <origin rpy="-1.5708 0.0 -1.5708" xyz="0.169324 0 -0.0458976"/>
    <axis xyz="0 0 1"/>
    <dynamics damping="10.0" friction="0.0"/>
    <limit effort="100.0" lower="0.3318" upper="4.5028" velocity="1000"/>
  </joint>
  <link name="r2/right_upper_arm">
    <visual>
      <geometry>
        <mesh filename="package://r2_description/meshes/r2_upperbody/Right_Upper_Arm.dae"/>
      </geometry>
      <material name="dirty_white"/>
      <origin rpy="0.0 0.0 0.0" xyz="0.0 0.0 -0.067724"/>
    </visual>
    <collision>
      <geometry>
        <mesh filename="package://r2_description/meshes/r2_upperbody/Right_Upper_Arm.dae"/>
      </geometry>
      <origin rpy="0.0 0.0 0.0" xyz="0.0 0.0 -0.067724"/>
    </collision>
    <inertial>
      <origin xyz="0.011979384 -0.0073390714 0.079871897"/>
      <mass value="4.9025709"/>
      <inertia ixx="0.044036190" ixy="0.0013812407" ixz="-0.0068318982" iyy="0.048358309" iyz="0.0035598559" izz="0.016564943"/>
    </inertial>
  </link>
  <joint name="r2/right_arm/joint3" type="revolute">
    <parent link="r2/right_upper_arm"/>
    <child link="r2/right_elbow"/>
    <origin rpy="0.0 -1.5708 1.5708" xyz="0.05334 -0.0313243 0.185006"/>
    <axis xyz="0 0 1"/>
    <dynamics damping="1.0" friction="0.0"/>
    <limit effort="100.0" lower="-2.7930" upper="0.0" velocity="1000"/>
  </joint>
  <link name="r2/right_elbow">
    <visual>
      <geometry>
        <mesh filename="package://r2_description/meshes/r2_upperbody/Right_Elbow.dae"/>
      </geometry>
      <material name="dirty_white"/>
      <origin rpy="0 0.0 0" xyz="0 0 -0.0313243"/>
    </visual>
    <collision>
      <geometry>
        <mesh filename="package://r2_description/meshes/r2_upperbody/Right_Elbow.dae"/>
      </geometry>
      <origin rpy="0 0.0 0" xyz="0 0 -0.0313243"/>
    </collision>
    <inertial>
      <origin xyz="0.035398630 0.025517855  -0.036241795"/>
      <mass value="2.3377006"/>
      <inertia ixx="0.0067529558" ixy="-0.0026092481" ixz="-0.00060380235" iyy="0.0080987220" iyz="-0.00047453566" izz="0.009863562"/>
    </inertial>
  </link>
  <joint name="r2/right_arm/joint4" type="revolute">
    <parent link="r2/right_elbow"/>
    <child link="r2/right_joint4_output"/>
    <origin rpy="-0.9550 1.5708 -0.9550" xyz="0.0541223 0.0533300 -0.0305397"/>
    <axis xyz="0 0 1"/>
    <dynamics damping="1.0" friction="0.0"/>
    <limit effort="100.0" lower="-4.6770" upper="1.5360" velocity="1000"/>
  </joint>
  <link name="r2/right_joint4_output">
    <inertial>
      <mass value="0.01"/>
      <inertia ixx="0.0001" ixy="0.0" ixz="0.0" iyy="0.0001" iyz="0.0" izz="0.0001"/>
    </inertial>
  </link>
  <joint name="r2/fixed/right_lower_arm/right_forearm_jr3" type="fixed">
    <parent link="r2/right_joint4_output"/>
    <child link="r2/right_arm/forearm/jr3"/>
    <origin rpy="3.1416 0.0 0.78539" xyz="0.0 0.0 0.0897574"/>
  </joint>
  <link name="r2/right_arm/forearm/jr3">
    <inertial>
      <mass value="0.01"/>
      <inertia ixx="0.0001" ixy="0.0" ixz="0.0" iyy="0.0001" iyz="0.0" izz="0.0001"/>
    </inertial>
  </link>
  <joint name="r2/fixed/right_lower_arm/right_forearm" type="fixed">
    <parent link="r2/right_arm/forearm/jr3"/>
    <child link="r2/right_lower_arm"/>
    <origin rpy="3.1416 0.0 0.7854" xyz="0.0 0.0 0.0897574"/>
  </joint>
  <link name="r2/right_lower_arm">
    <visual>
      <geometry>
        <mesh filename="package://r2_description/meshes/r2_upperbody/Right_Forearm.dae"/>
      </geometry>
      <material name="dirty_white"/>
      <origin rpy="0 0 1.5708" xyz="0 0.0 0.0458777"/>
    </visual>
    <collision>
      <geometry>
        <mesh filename="package://r2_description/meshes/r2_upperbody/Right_Forearm.dae"/>
      </geometry>
      <origin rpy="0 0 1.5708" xyz="0 0.0 0.0458777"/>
    </collision>
    <inertial>
      <origin xyz="0.0039950818 0.00044312736  0.16275601"/>
      <mass value="8.1525875"/>
      <inertia ixx="0.10706156" ixy="0.00070538028" ixz="-0.0061176777" iyy="0.11007507" iyz="0.0020551081" izz="0.015240452"/>
    </inertial>
  </link>
  <joint name="r2/right_arm/wrist/pitch" type="revolute">
    <parent link="r2/right_lower_arm"/>
    <child link="r2/right_wrist_pitch"/>
    <origin rpy="0 -1.5708 0" xyz="-0.000616510 0 0.301768"/>
    <axis xyz="0 0 1"/>
    <dynamics damping="1.0" friction="0.0"/>
    <limit effort="100.0" lower="-0.8" upper="0.8" velocity="1000"/>
  </joint>
  <link name="r2/right_wrist_pitch">
    <inertial>
      <origin xyz="0.0 0.0 0.0"/>
      <mass value="0.01"/>
      <inertia ixx=".0001" ixy="0.0" ixz="0.0" iyy="0.0001" iyz="0.0" izz="0.0001"/>
    </inertial>
  </link>
  <joint name="r2/right_arm/wrist/yaw" type="revolute">
    <parent link="r2/right_wrist_pitch"/>
    <child link="r2/right_wrist_yaw"/>
    <origin rpy="1.5708 0.0646 -0.0802" xyz="0.00635 0 -0.00041451"/>
    <axis xyz="0 0 1"/>
    <dynamics damping="1.0" friction="0.0"/>
    <limit effort="100.0" lower="-0.15" upper="0.75" velocity="1000"/>
  </joint>
  <link name="r2/right_wrist_yaw">
    <inertial>
      <origin xyz="0.0 0.0 0.0"/>
      <mass value="0.01"/>
      <inertia ixx="0.0001" ixy="0.0" ixz="0.0" iyy="0.0001" iyz="0.0" izz="0.0001"/>
    </inertial>
  </link>
  <joint name="r2/fixed/right_wrist_yaw/right_palm" type="fixed">
    <parent link="r2/right_wrist_yaw"/>
    <child link="r2/right_palm"/>
    <origin rpy=" 0.0 0.0 0" xyz=" 0.0 0.0 0.0"/>
  </joint>
  <link name="r2/right_palm">
    <visual>
      <geometry>
        <mesh filename="package://r2_description/meshes/r2_upperbody/Right_Palm.dae"/>
      </geometry>
      <origin rpy="3.1416 0 1.5708" xyz="0.0 0.0 0.0"/>
    </visual>
    <collision>
      <geometry>
        <mesh filename="package://r2_description/meshes/r2_upperbody/Right_Palm.dae"/>
      </geometry>
      <origin rpy="3.1416 0 1.5708" xyz="0.0 0.0 0.0"/>
    </collision>
    <inertial>
      <mass value="0.01"/>
      <inertia ixx="0.0001" ixy="0.0" ixz="0.0" iyy="0.0001" iyz="0.0" izz="0.0001"/>
    </inertial>
  </link>
  <!--
  <property name="right_arm_hand_index_j3_damping" value= "0.1" />
  <property name="right_arm_hand_index_j3_friction" value= "0.0" />
-->
  <!--
  <property name="right_arm_hand_middle_j3_damping" value= "0.1" />
  <property name="right_arm_hand_middle_j3_friction" value= "0.0" />
-->
  <!--
  <property name="right_arm_hand_ring_j1_damping" value= "0.1" />
  <property name="right_arm_hand_ring_j1_friction" value= "0.0" />
  <property name="right_arm_hand_ring_j2_damping" value= "0.1" />
  <property name="right_arm_hand_ring_j2_friction" value= "0.0" />
-->
  <!--
  <property name="right_arm_hand_little_j1_damping" value= "0.1" />
  <property name="right_arm_hand_little_j1_friction" value= "0.0" />
  <property name="right_arm_hand_little_j2_damping" value= "0.1" />
  <property name="right_arm_hand_little_j2_friction" value= "0.0" />
-->
  <joint name="r2/right_arm/hand/thumb/roll" type="revolute">
    <parent link="r2/right_wrist_yaw"/>
    <child link="r2/right_thumb_base"/>
    <origin rpy=" 1.5708 0.174532791018 -1.30899687745 " xyz="0.03302 -0.03048 0.00635 "/>
    <axis xyz="0 0 1"/>
    <limit effort="10000000.0" lower="-4" upper="4" velocity="1000"/>
    <dynamics damping="0.1" friction="0.0"/>
  </joint>
  <joint name="r2/fixed/right_index_base/right_index_base" type="fixed">
    <parent link="r2/right_wrist_yaw"/>
    <child link="r2/right_index_base"/>
    <origin rpy=" 0.0 0.0 -0.122172725275  " xyz=" 0.0994646728 -0.0271119346 -0.0161544 "/>
  </joint>
  <joint name="r2/right_arm/hand/index/yaw" type="revolute">
    <parent link="r2/right_index_base"/>
    <child link="r2/right_index_yaw"/>
    <origin rpy="0.0 0.0 0.0" xyz="0.0 0.0 0.0"/>
    <axis xyz="0 0 1"/>
    <limit effort="10000000.0" lower="-4" upper="4" velocity="1000"/>
    <dynamics damping="0.1" friction="0.0"/>
  </joint>
  <joint name="r2/fixed/right_middle_base/right_middle_base" type="fixed">
    <parent link="r2/right_wrist_yaw"/>
    <child link="r2/right_middle_base"/>
    <origin rpy=" 0.0 0.0 0.0 " xyz="0.10646537 -0.00254 -0.0161544 "/>
  </joint>
  <joint name="r2/right_arm/hand/middle/yaw" type="revolute">
    <parent link="r2/right_middle_base"/>
    <child link="r2/right_middle_yaw"/>
    <origin rpy="0.0 0.0 0.0" xyz="0.0 0.0 0.0"/>
    <axis xyz="0 0 1"/>
    <limit effort="10000000.0" lower="-4" upper="4" velocity="1000"/>
    <dynamics damping="0.1" friction="0.0"/>
  </joint>
  <joint name="r2/right_arm/hand/ringlittle/ring" type="revolute">
    <parent link="r2/right_wrist_yaw"/>
    <child link="r2/right_ring_proximal"/>
    <origin rpy=" 1.57079632679 -0.0 0.122172725275  " xyz=" 0.1084539614 0.019792569 -0.012319 "/>
    <axis xyz="0 0 1"/>
    <limit effort="10000000.0" lower="-4" upper="4" velocity="1000"/>
    <dynamics damping="0.1" friction="0.0"/>
  </joint>
  <joint name="r2/right_arm/hand/ringlittle/little" type="revolute">
    <parent link="r2/right_wrist_yaw"/>
    <child link="r2/right_little_proximal"/>
    <origin rpy=" 1.53588943985 -0.0872667473393 0.17453258148  " xyz=" 0.094635701 0.0403792436 -0.0060878212 "/>
    <axis xyz="0 0 1"/>
    <limit effort="10000000.0" lower="-4" upper="4" velocity="1000"/>
    <dynamics damping="0.1" friction="0.0"/>
  </joint>
  <link name="r2/right_thumb_base">
    <inertial>
      <mass value=".05"/>
      <inertia ixx=".0010" ixy="0.0" ixz="0.0" iyy=".0010" iyz="0.0" izz=".0010"/>
    </inertial>
  </link>
  <joint name="r2/fixed/right_thumb_base/right_thumb_proximal" type="fixed">
    <parent link="r2/right_thumb_base"/>
    <child link="r2/right_thumb_proximal"/>
    <origin rpy=" -1.5708 -0.0 0.0 " xyz=" 0.011938 0.0 0.0 "/>
  </joint>
  <link name="r2/right_thumb_proximal">
    <inertial>
      <mass value=".05"/>
      <inertia ixx=".0010" ixy="0.0" ixz="0.0" iyy=".0010" iyz="0.0" izz=".0010"/>
    </inertial>
    <visual>
      <geometry>
        <mesh filename="package://r2_description/meshes/r2_upperbody/Left_Thumb_Carp.dae"/>
      </geometry>
      <origin rpy="-1.5708 0 0" xyz="-0.01 0.0 0.0"/>
    </visual>
    <collision>
      <geometry>
        <mesh filename="package://r2_description/meshes/r2_upperbody/Left_Thumb_Carp.dae" scale="0.9 0.9 0.9"/>
      </geometry>
      <origin rpy="-1.5708 0 0" xyz="-0.01 0.0 0.0"/>
    </collision>
  </link>
  <joint name="r2/right_arm/hand/thumb/proximal" type="revolute">
    <parent link="r2/right_thumb_proximal"/>
    <child link="r2/right_thumb_medial_prime"/>
    <origin rpy=" 0.0 0.0 0.0 " xyz=" 0.0 0.0 0.0 "/>
    <axis xyz="0 0 1"/>
    <limit effort="10000000.0" lower="-4" upper="4" velocity="1000"/>
    <dynamics damping="0.1" friction="0.0"/>
  </joint>
  <link name="r2/right_thumb_medial_prime">
    <inertial>
      <mass value=".05"/>
      <inertia ixx=".0010" ixy="0.0" ixz="0.0" iyy=".0010" iyz="0.0" izz=".0010"/>
    </inertial>
    <visual>
      <geometry>
        <mesh filename="package://r2_description/meshes/r2_upperbody/Right_Thumb_MtCar.dae"/>
      </geometry>
      <origin rpy="-1.5708 -1.5708 0 " xyz="-0.0 0 0.0"/>
    </visual>
    <collision>
      <geometry>
        <mesh filename="package://r2_description/meshes/r2_upperbody/Right_Thumb_MtCar.dae" scale="0.9 0.9 0.9"/>
      </geometry>
      <origin rpy="-1.5708 -1.5708 0 " xyz="-0.0 0 0.0"/>
    </collision>
  </link>
  <joint name="r2/right_arm/hand/thumb/medial" type="revolute">
    <parent link="r2/right_thumb_medial_prime"/>
    <child link="r2/right_thumb_medial"/>
    <origin rpy=" 0.698132284627 0.0 0.0 " xyz=" 0.030734 -0.001905 -0.00254 "/>
    <axis xyz="0 0 1"/>
    <limit effort="10000000.0" lower="-4" upper="4" velocity="1000"/>
    <dynamics damping="0.1" friction="0.0"/>
  </joint>
  <link name="r2/right_thumb_medial">
    <inertial>
      <mass value=".05"/>
      <inertia ixx=".0010" ixy="0.0" ixz="0.0" iyy=".0010" iyz="0.0" izz=".0010"/>
    </inertial>
    <visual>
      <geometry>
        <mesh filename="package://r2_description/meshes/r2_upperbody/Thumb_Proximal.dae"/>
      </geometry>
      <origin rpy="3.1416 0 1.5708" xyz="0.0 0.0 0.0"/>
    </visual>
    <collision>
      <geometry>
        <mesh filename="package://r2_description/meshes/r2_upperbody/Thumb_Proximal.dae"/>
      </geometry>
      <origin rpy="3.1416 0 1.5708" xyz="0.0 0.0 0.0"/>
    </collision>
  </link>
  <joint name="r2/right_arm/hand/thumb/distal" type="revolute">
    <parent link="r2/right_thumb_medial"/>
    <child link="r2/right_thumb_distal"/>
    <origin rpy=" 0.0 0.0 0.0 " xyz=" 0.03937 0.0 0.0 "/>
    <axis xyz="0 0 1"/>
    <limit effort="10000000.0" lower="-4" upper="4" velocity="1000"/>
    <dynamics damping="0.1" friction="0.0"/>
  </joint>
  <link name="r2/right_thumb_distal">
    <inertial>
      <mass value=".05"/>
      <inertia ixx=".0010" ixy="0.0" ixz="0.0" iyy=".0010" iyz="0.0" izz=".0010"/>
    </inertial>
    <visual>
      <geometry>
        <mesh filename="package://r2_description/meshes/r2_upperbody/Thumb_Dist.dae"/>
      </geometry>
      <origin rpy="3.1416 3.1416 0" xyz="0.0 0.0 0.0"/>
    </visual>
    <collision>
      <geometry>
        <mesh filename="package://r2_description/meshes/r2_upperbody/Thumb_Dist.dae"/>
      </geometry>
      <origin rpy="3.1416 3.1416 0" xyz="0.0 0.0 0.0"/>
    </collision>
  </link>
  <joint name="r2/fixed/right_thumb_distal/right_thumb_tip" type="fixed">
    <parent link="r2/right_thumb_distal"/>
    <child link="r2/right_thumb_tip"/>
    <origin rpy=" 0.0 0.0 0.0 " xyz=" 0.03302 0.0 0.0 "/>
  </joint>
  <link name="r2/right_thumb_tip">
    <inertial>
      <mass value=".05"/>
      <inertia ixx=".0010" ixy="0.0" ixz="0.0" iyy=".0010" iyz="0.0" izz=".0010"/>
    </inertial>
  </link>
  <link name="r2/right_index_base">
    <inertial>
      <mass value=".05"/>
      <inertia ixx=".0010" ixy="0.0" ixz="0.0" iyy=".0010" iyz="0.0" izz=".0010"/>
    </inertial>
  </link>
  <link name="r2/right_index_yaw">
    <inertial>
      <mass value=".05"/>
      <inertia ixx=".0010" ixy="0.0" ixz="0.0" iyy=".0010" iyz="0.0" izz=".0010"/>
    </inertial>
  </link>
  <joint name="r2/right_arm/hand/index/proximal" type="revolute">
    <parent link="r2/right_index_yaw"/>
    <child link="r2/right_index_proximal"/>
    <origin rpy=" 1.5708 -0.0 0.0 " xyz=" 0.009652 0.0 0.0 "/>
    <axis xyz="0 0 1"/>
    <limit effort="10000000.0" lower="-4" upper="4" velocity="1000"/>
    <dynamics damping="0.1" friction="0.0"/>
  </joint>
  <link name="r2/right_index_proximal">
    <inertial>
      <mass value=".05"/>
      <inertia ixx=".0010" ixy="0.0" ixz="0.0" iyy=".0010" iyz="0.0" izz=".0010"/>
    </inertial>
    <visual>
      <geometry>
        <mesh filename="package://r2_description/meshes/r2_upperbody/Finger_Proximal.dae"/>
      </geometry>
      <origin rpy="0 0 1.5708" xyz="0.0 0.0 0.0"/>
    </visual>
    <collision>
      <geometry>
        <mesh filename="package://r2_description/meshes/r2_upperbody/Finger_Proximal.dae"/>
      </geometry>
      <origin rpy="0 0 1.5708" xyz="0.0 0.0 0.0"/>
    </collision>
  </link>
  <joint name="r2/right_arm/hand/index/medial" type="revolute">
    <parent link="r2/right_index_proximal"/>
    <child link="r2/right_index_medial"/>
    <origin rpy=" 0.0 0.0 0.0 " xyz=" 0.04445 0.0 0.0 "/>
    <axis xyz="0 0 1"/>
    <limit effort="10000000.0" lower="-4" upper="4" velocity="1000"/>
    <dynamics damping="0.1" friction="0.0"/>
  </joint>
  <link name="r2/right_index_medial">
    <inertial>
      <mass value=".05"/>
      <inertia ixx=".0010" ixy="0.0" ixz="0.0" iyy=".0010" iyz="0.0" izz=".0010"/>
    </inertial>
    <visual>
      <geometry>
        <mesh filename="package://r2_description/meshes/r2_upperbody/Finger_Mid.dae"/>
      </geometry>
      <origin rpy="3.1416 0 1.5708" xyz="0.0 0.0 0.0"/>
    </visual>
    <collision>
      <geometry>
        <mesh filename="package://r2_description/meshes/r2_upperbody/Finger_Mid.dae"/>
      </geometry>
      <origin rpy="3.1416 0 1.5708" xyz="0.0 0.0 0.0"/>
    </collision>
  </link>
  <link name="r2/right_middle_base">
    <inertial>
      <mass value=".0010"/>
      <inertia ixx=".0010" ixy="0.0" ixz="0.0" iyy=".0010" iyz="0.0" izz=".0010"/>
    </inertial>
  </link>
  <link name="r2/right_middle_yaw">
    <inertial>
      <mass value=".0010"/>
      <inertia ixx=".0010" ixy="0.0" ixz="0.0" iyy=".0010" iyz="0.0" izz=".0010"/>
    </inertial>
  </link>
  <joint name="r2/right_arm/hand/middle/proximal" type="revolute">
    <parent link="r2/right_middle_yaw"/>
    <child link="r2/right_middle_proximal"/>
    <origin rpy=" 1.5708 -0.0 0.0 " xyz=" 0.009652 0.0 0.0 "/>
    <axis xyz="0 0 1"/>
    <limit effort="10000000.0" lower="-4" upper="4" velocity="1000"/>
    <dynamics damping="0.1" friction="0.0"/>
  </joint>
  <link name="r2/right_middle_proximal">
    <inertial>
      <mass value=".05"/>
      <inertia ixx=".0010" ixy="0.0" ixz="0.0" iyy=".0010" iyz="0.0" izz=".0010"/>
    </inertial>
    <visual>
      <geometry>
        <mesh filename="package://r2_description/meshes/r2_upperbody/Finger_Proximal.dae"/>
      </geometry>
      <origin rpy="0 0 1.5708" xyz="0.0 0.0 0.0"/>
    </visual>
    <collision>
      <geometry>
        <mesh filename="package://r2_description/meshes/r2_upperbody/Finger_Proximal.dae" scale="0.9 0.9 0.9"/>
      </geometry>
      <origin rpy="0 0 1.5708" xyz="0.0 0.0 0.0"/>
    </collision>
  </link>
  <joint name="r2/right_arm/hand/middle/medial" type="revolute">
    <parent link="r2/right_middle_proximal"/>
    <child link="r2/right_middle_medial"/>
    <origin rpy=" 0.0 0.0 0.0 " xyz=" 0.04445 0.0 0.0 "/>
    <axis xyz="0 0 1"/>
    <limit effort="10000000.0" lower="-4" upper="4" velocity="1000"/>
    <dynamics damping="0.1" friction="0.0"/>
  </joint>
  <link name="r2/right_middle_medial">
    <inertial>
      <mass value=".05"/>
      <inertia ixx=".0010" ixy="0.0" ixz="0.0" iyy=".0010" iyz="0.0" izz=".0010"/>
    </inertial>
    <visual>
      <geometry>
        <mesh filename="package://r2_description/meshes/r2_upperbody/Finger_Mid.dae"/>
      </geometry>
      <origin rpy="3.1416 0 1.5708" xyz="0.0 0.0 0.0"/>
    </visual>
    <collision>
      <geometry>
        <mesh filename="package://r2_description/meshes/r2_upperbody/Finger_Mid.dae" scale="0.9 0.9 0.9"/>
      </geometry>
      <origin rpy="3.1416 0 1.5708" xyz="0.0 0.0 0.0"/>
    </collision>
  </link>
  <link name="r2/right_ring_proximal">
    <inertial>
      <mass value=".05"/>
      <inertia ixx=".0010" ixy="0.0" ixz="0.0" iyy=".0010" iyz="0.0" izz=".0010"/>
    </inertial>
    <visual>
      <geometry>
        <mesh filename="package://r2_description/meshes/r2_upperbody/Finger_Proximal.dae"/>
      </geometry>
      <origin rpy="0 0 1.5708" xyz="0.0 0.0 0.0"/>
    </visual>
    <collision>
      <geometry>
        <mesh filename="package://r2_description/meshes/r2_upperbody/Finger_Proximal.dae" scale="0.9 0.9 0.9"/>
      </geometry>
      <origin rpy="0 0 1.5708" xyz="0.0 0.0 0.0"/>
    </collision>
  </link>
  <link name="r2/right_little_proximal">
    <inertial>
      <mass value=".05"/>
      <inertia ixx=".0010" ixy="0.0" ixz="0.0" iyy=".0010" iyz="0.0" izz=".0010"/>
    </inertial>
    <visual>
      <geometry>
        <mesh filename="package://r2_description/meshes/r2_upperbody/Finger_Proximal.dae"/>
      </geometry>
      <origin rpy="0 0 1.5708" xyz="0.0 0.0 0.0"/>
    </visual>
    <collision>
      <geometry>
        <mesh filename="package://r2_description/meshes/r2_upperbody/Finger_Proximal.dae" scale="0.9 0.9 0.9"/>
      </geometry>
      <origin rpy="0 0 1.5708" xyz="0.0 0.0 0.0"/>
    </collision>
  </link>
  <joint name="r2/right_arm/hand/index/distal" type="revolute">
    <parent link="r2/right_index_medial"/>
    <child link="r2/right_index_distal"/>
    <origin rpy=" 0.0 0.0 0.0 " xyz=" 0.03048 0.0 0.0 "/>
    <axis xyz="0 0 1"/>
    <limit effort="10000000.0" lower="-4" upper="4" velocity="1000"/>
    <dynamics damping="0.1" friction="0.0"/>
  </joint>
  <link name="r2/right_index_distal">
    <inertial>
      <mass value=".05"/>
      <inertia ixx=".0010" ixy="0.0" ixz="0.0" iyy=".0010" iyz="0.0" izz=".0010"/>
    </inertial>
    <visual>
      <geometry>
        <mesh filename="package://r2_description/meshes/r2_upperbody/Finger_Dist.dae"/>
      </geometry>
      <origin rpy="0 -1.57 0" xyz="0.0 0.0 0.0"/>
    </visual>
    <collision>
      <geometry>
        <mesh filename="package://r2_description/meshes/r2_upperbody/Finger_Dist.dae"/>
      </geometry>
      <origin rpy="0 -1.57 0" xyz="0.0 0.0 0.0"/>
    </collision>
  </link>
  <joint name="r2/fixed/right_index_distal/right_index_tip" type="fixed">
    <parent link="r2/right_index_distal"/>
    <child link="r2/right_index_tip"/>
    <origin rpy=" 0.0 -0.0 0.0 " xyz=" 0.024638 0.0 0.0 "/>
  </joint>
  <link name="r2/right_index_tip">
    <inertial>
      <mass value=".05"/>
      <inertia ixx=".0010" ixy="0.0" ixz="0.0" iyy=".0010" iyz="0.0" izz=".0010"/>
    </inertial>
  </link>
  <joint name="r2/right_arm/hand/middle/distal" type="revolute">
    <parent link="r2/right_middle_medial"/>
    <child link="r2/right_middle_distal"/>
    <origin rpy=" 0.0 0.0 0.0 " xyz=" 0.03048 0.0 0.0 "/>
    <axis xyz="0 0 1"/>
    <limit effort="10000000.0" lower="-4" upper="4" velocity="1000"/>
    <dynamics damping="0.1" friction="0.0"/>
  </joint>
  <link name="r2/right_middle_distal">
    <inertial>
      <mass value=".05"/>
      <inertia ixx=".0010" ixy="0.0" ixz="0.0" iyy=".0010" iyz="0.0" izz=".0010"/>
    </inertial>
    <visual>
      <geometry>
        <mesh filename="package://r2_description/meshes/r2_upperbody/Finger_Dist.dae"/>
      </geometry>
      <origin rpy="0 -1.57 0" xyz="0.0 0.0 0.0"/>
    </visual>
    <collision>
      <geometry>
        <mesh filename="package://r2_description/meshes/r2_upperbody/Finger_Dist.dae" scale="0.9 0.9 0.9"/>
      </geometry>
      <origin rpy="0 -1.57 0" xyz="0.0 0.0 0.0"/>
    </collision>
  </link>
  <joint name="r2/fixed/right_middle_distal/right_middle_tip" type="fixed">
    <parent link="r2/right_middle_distal"/>
    <child link="r2/right_middle_tip"/>
    <origin rpy=" 0.0 -0.0 0.0 " xyz=" 0.024638 0.0 0.0 "/>
  </joint>
  <link name="r2/right_middle_tip">
    <inertial>
      <mass value=".05"/>
      <inertia ixx=".0010" ixy="0.0" ixz="0.0" iyy=".0010" iyz="0.0" izz=".0010"/>
    </inertial>
  </link>
  <joint name="r2/right_arm/hand/ringlittle/ringMedial" type="revolute">
    <parent link="r2/right_ring_proximal"/>
    <child link="r2/right_ring_medial"/>
    <origin rpy=" 0.0 -0.0 0.0 " xyz=" 0.04445 0.0 0.0 "/>
    <axis xyz="0 0 1"/>
    <limit effort="10000000.0" lower="-4" upper="4" velocity="1000"/>
    <dynamics damping="0.1" friction="0.0"/>
  </joint>
  <link name="r2/right_ring_medial">
    <inertial>
      <mass value=".05"/>
      <inertia ixx=".0010" ixy="0.0" ixz="0.0" iyy=".0010" iyz="0.0" izz=".0010"/>
    </inertial>
    <visual>
      <geometry>
        <mesh filename="package://r2_description/meshes/r2_upperbody/Finger_Mid.dae"/>
      </geometry>
      <origin rpy="3.14 0 1.57" xyz="0.0 0.0 0.0"/>
    </visual>
    <collision>
      <geometry>
        <mesh filename="package://r2_description/meshes/r2_upperbody/Finger_Mid.dae" scale="0.9 0.9 0.9"/>
      </geometry>
      <origin rpy="3.14 0 1.57" xyz="0.0 0.0 0.0"/>
    </collision>
  </link>
  <joint name="r2/right_arm/hand/ringlittle/ringDistal" type="revolute">
    <parent link="r2/right_ring_medial"/>
    <child link="r2/right_ring_distal"/>
    <origin rpy=" 0.0 -0.0 0.0 " xyz=" 0.03048 0.0 0.0 "/>
    <axis xyz="0 0 1"/>
    <limit effort="10000000.0" lower="-4" upper="4" velocity="1000"/>
    <dynamics damping="0.1" friction="0.0"/>
  </joint>
  <link name="r2/right_ring_distal">
    <inertial>
      <mass value=".05"/>
      <inertia ixx=".0010" ixy="0.0" ixz="0.0" iyy=".0010" iyz="0.0" izz=".0010"/>
    </inertial>
    <visual>
      <geometry>
        <mesh filename="package://r2_description/meshes/r2_upperbody/Finger_Dist.dae"/>
      </geometry>
      <origin rpy="0 -1.57 0" xyz="0.0 0.0 0.0"/>
    </visual>
    <collision>
      <geometry>
        <mesh filename="package://r2_description/meshes/r2_upperbody/Finger_Dist.dae" scale="0.9 0.9 0.9"/>
      </geometry>
      <origin rpy="0 -1.57 0" xyz="0.0 0.0 0.0"/>
    </collision>
  </link>
  <joint name="r2/fixed/right_ring_distal/right_ring_tip" type="fixed">
    <parent link="r2/right_ring_distal"/>
    <child link="r2/right_ring_tip"/>
    <origin rpy=" 0.0 -0.0 0.0 " xyz=" 0.024638 0.0 0.0 "/>
  </joint>
  <link name="r2/right_ring_tip">
    <inertial>
      <mass value=".05"/>
      <inertia ixx=".0010" ixy="0.0" ixz="0.0" iyy=".0010" iyz="0.0" izz=".0010"/>
    </inertial>
  </link>
  <joint name="r2/right_arm/hand/ringlittle/littleMedial" type="revolute">
    <parent link="r2/right_little_proximal"/>
    <child link="r2/right_little_medial"/>
    <origin rpy=" 0.0 -0.0 0.0 " xyz=" 0.04445 0.0 0.0 "/>
    <axis xyz="0 0 1"/>
    <limit effort="10000000.0" lower="-4" upper="4" velocity="1000"/>
    <dynamics damping="0.1" friction="0.0"/>
  </joint>
  <link name="r2/right_little_medial">
    <inertial>
      <mass value=".05"/>
      <inertia ixx=".0010" ixy="0.0" ixz="0.0" iyy=".0010" iyz="0.0" izz=".0010"/>
    </inertial>
    <visual>
      <geometry>
        <mesh filename="package://r2_description/meshes/r2_upperbody/Finger_Mid.dae"/>
      </geometry>
      <origin rpy="3.14 0 1.57" xyz="0.0 0.0 0.0"/>
    </visual>
    <collision>
      <geometry>
        <mesh filename="package://r2_description/meshes/r2_upperbody/Finger_Mid.dae" scale="0.9 0.9 0.9"/>
      </geometry>
      <origin rpy="3.14 0 1.57" xyz="0.0 0.0 0.0"/>
    </collision>
  </link>
  <joint name="r2/right_arm/hand/ringlittle/littleDistal" type="revolute">
    <parent link="r2/right_little_medial"/>
    <child link="r2/right_little_distal"/>
    <origin rpy=" 0.0 -0.0 0.0 " xyz=" 0.03048 0.0 0.0 "/>
    <axis xyz="0 0 1"/>
    <limit effort="10000000.0" lower="-4" upper="4" velocity="1000"/>
    <dynamics damping="0.1" friction="0.0"/>
  </joint>
  <link name="r2/right_little_distal">
    <inertial>
      <mass value=".05"/>
      <inertia ixx=".0010" ixy="0.0" ixz="0.0" iyy=".0010" iyz="0.0" izz=".0010"/>
    </inertial>
    <visual>
      <geometry>
        <mesh filename="package://r2_description/meshes/r2_upperbody/Finger_Dist.dae"/>
      </geometry>
      <origin rpy="0 -1.57 0" xyz="0.0 0.0 0.0"/>
    </visual>
    <collision>
      <geometry>
        <mesh filename="package://r2_description/meshes/r2_upperbody/Finger_Dist.dae" scale="0.9 0.9 0.9"/>
      </geometry>
      <origin rpy="0 -1.57 0" xyz="0.0 0.0 0.0"/>
    </collision>
  </link>
  <joint name="r2/fixed/right_little_distal/right_little_tip" type="fixed">
    <parent link="r2/right_little_distal"/>
    <child link="r2/right_little_tip"/>
    <origin rpy=" 0.0 -0.0 0.0 " xyz=" 0.024638 0.0 0.0 "/>
  </joint>
  <link name="r2/right_little_tip">
    <inertial>
      <mass value=".05"/>
      <inertia ixx=".0010" ixy="0.0" ixz="0.0" iyy=".0010" iyz="0.0" izz=".0010"/>
    </inertial>
  </link>
  <link name="r2/pelvis">
    <inertial>
      <mass value="12.2831"/>
      <inertia ixx="0.10679" ixy="0.00009239" ixz="-0.00002105" iyy="0.05595" iyz="0.0" izz="0.1022"/>
      <origin rpy="0 0 0" xyz="0.00001909 0.0 -0.008524"/>
    </inertial>
    <visual>
      <geometry>
        <mesh filename="package://r2_description/meshes/r2c_legs/r2cl_ext_pelvis.dae"/>
      </geometry>
      <material name="gold"/>
      <origin rpy="0 0 0" xyz="0 0 0"/>
    </visual>
    <collision>
      <geometry>
        <mesh filename="package://r2_description/meshes/r2c_legs/r2cl_ext_pelvis.dae"/>
      </geometry>
      <origin rpy="0 0 0" xyz="0 0 0"/>
    </collision>
  </link>
  <joint name="r2/fixed/robot_base/pelvis" type="fixed">
    <parent link="r2/robot_base"/>
    <child link="r2/pelvis"/>
    <origin rpy="0 3.14159 0" xyz="0 0 0.098"/>
  </joint>
  <joint name="r2/fixed/pelvis/left_leg_base" type="fixed">
    <parent link="r2/pelvis"/>
    <child link="r2/left_leg_base"/>
    <origin rpy="0 0.000000 1.570796" xyz="0.0 0 0.0"/>
  </joint>
  <link name="r2/left_leg_base">
    <inertial>
      <mass value="0.01"/>
      <inertia ixx="0.0001" ixy="0.0" ixz="0.0" iyy="0.0001" iyz="0.0" izz="0.0001"/>
    </inertial>
  </link>
  <joint name="r2/fixed/left_leg_base/left_leg_j0_base" type="fixed">
    <parent link="r2/left_leg_base"/>
    <child link="r2/left_leg_j0_base"/>
    <origin rpy="0.0 1.8325957 3.14159" xyz="-0.1104900 0.0 -0.0297180"/>
  </joint>
  <link name="r2/left_leg_j0_base">
    <inertial>
      <mass value="0.01"/>
      <inertia ixx="0.0001" ixy="0.0" ixz="0.0" iyy="0.0001" iyz="0.0" izz="0.0001"/>
    </inertial>
  </link>
  <joint name="r2/left_leg/joint0" type="revolute">
    <parent link="r2/left_leg_j0_base"/>
    <child link="r2/left_hip_roll"/>
    <origin rpy="0.0 0 0" xyz="0 0 0"/>
    <axis xyz="0 0 1"/>
    <dynamics damping="10.0" friction="0.0"/>
    <limit effort="330.0" lower="-3.14159" upper="3.14159" velocity="1.0"/>
    <traits spring_k="2.5"/>
  </joint>
  <link name="r2/left_hip_roll">
    <inertial>
      <mass value="2.5410"/>
      <inertia ixx="0.006434" ixy="0.0007087" ixz="-0.001543" iyy="0.009325" iyz="0.0008694" izz="0.006904"/>
      <origin rpy="0.0 0.0 0.0" xyz="0.03372 -0.02428 0.07903"/>
    </inertial>
    <visual>
      <geometry>
        <mesh filename="package://r2_description/meshes/r2c_legs/r2cl_ext_bone3.dae"/>
      </geometry>
      <origin rpy="0 0 0" xyz="0.0 0.0 0.0"/>
    </visual>
    <collision>
      <geometry>
        <mesh filename="package://r2_description/meshes/r2c_legs/r2cl_ext_bone3.dae"/>
      </geometry>
      <origin rpy="0 0 0" xyz="0.0 0.0 0.0"/>
    </collision>
  </link>
  <joint name="r2/left_leg/joint1" type="revolute">
    <parent link="r2/left_hip_roll"/>
    <child link="r2/left_hip_pitch"/>
    <origin rpy="-1.570796  -0.2617994 0.0000000" xyz="0.050629765 +0.0022860 0.103498576"/>
    <axis xyz="0 0 1"/>
    <dynamics damping="5.0" friction="0.0"/>
    <limit effort="330.0" lower="-1.42244" upper="1.20427" velocity="1.0"/>
    <traits spring_k="2.5"/>
  </joint>
  <link name="r2/left_hip_pitch">
    <inertial>
      <mass value="4.6734"/>
      <inertia ixx="0.01002" ixy="0.007194" ixz="0.002041" iyy="0.03307" iyz="-0.0007281" izz="0.03728"/>
      <origin rpy="0 0 0" xyz="0.09450 -0.03354 0.008185"/>
    </inertial>
    <visual>
      <geometry>
        <mesh filename="package://r2_description/meshes/r2c_legs/r2cl_ext_bone1.dae"/>
      </geometry>
      <origin rpy="0 0 0" xyz="0 0 0"/>
    </visual>
    <collision>
      <geometry>
        <mesh filename="package://r2_description/meshes/r2c_legs/r2cl_ext_bone1.dae"/>
      </geometry>
      <origin rpy="0 0 0" xyz="0 0 0"/>
    </collision>
  </link>
  <joint name="r2/left_leg/joint2" type="revolute">
    <parent link="r2/left_hip_pitch"/>
    <child link="r2/left_upper_leg"/>
    <origin rpy=" 1.570796 0.0 1.570796" xyz="0.200 -0.050 0.004"/>
    <axis xyz="0 0 1"/>
    <dynamics damping="5.0" friction="0.0"/>
    <limit effort="330.0" lower="-3.14159" upper="3.14159" velocity="1.0"/>
    <traits spring_k="2.5"/>
  </joint>
  <link name="r2/left_upper_leg">
    <inertial>
      <mass value="3.7745"/>
      <inertia ixx="0.02163" ixy="-0.001453" ixz="0.003137" iyy="0.01832" iyz="0.004738" izz="0.009798"/>
      <origin rpy="0 0 0" xyz="-0.01485 -0.02188 0.09676"/>
    </inertial>
    <visual>
      <geometry>
        <mesh filename="package://r2_description/meshes/r2c_legs/r2cl_ext_bone2.dae"/>
      </geometry>
      <origin rpy="0 0 0" xyz="0 0 0"/>
    </visual>
    <collision>
      <geometry>
        <mesh filename="package://r2_description/meshes/r2c_legs/r2cl_ext_bone2.dae"/>
      </geometry>
      <origin rpy="0 0 0" xyz="0 0 0"/>
    </collision>
  </link>
  <joint name="r2/left_leg/joint3" type="revolute">
    <parent link="r2/left_upper_leg"/>
    <child link="r2/left_knee"/>
    <origin rpy="0.0 -1.570796 3.14159" xyz="-0.002 -0.050 0.157"/>
    <axis xyz="0 0 1"/>
    <dynamics damping="5.0" friction="0.0"/>
    <limit effort="330.0" lower="-0.10472" upper="2.68781" velocity="1.0"/>
    <traits spring_k="2.5"/>
  </joint>
  <link name="r2/left_knee">
    <inertial>
      <mass value="4.6734"/>
      <inertia ixx="0.01002" ixy="0.007194" ixz="0.002041" iyy="0.03307" iyz="-0.0007281" izz="0.03728"/>
      <origin rpy="0 0 0" xyz="0.09450 -0.03354 0.008185"/>
    </inertial>
    <visual>
      <geometry>
        <mesh filename="package://r2_description/meshes/r2c_legs/r2cl_ext_bone1.dae"/>
      </geometry>
      <origin rpy="0 0 0" xyz="0 0 0"/>
    </visual>
    <collision>
      <geometry>
        <mesh filename="package://r2_description/meshes/r2c_legs/r2cl_ext_bone1.dae"/>
      </geometry>
      <material name="gold"/>
      <origin rpy="0 0 0" xyz="0 0 0"/>
    </collision>
  </link>
  <joint name="r2/left_leg/joint4" type="revolute">
    <parent link="r2/left_knee"/>
    <child link="r2/left_lower_leg"/>
    <origin rpy="0 1.570796 0" xyz="0.200 -0.050 0.004"/>
    <axis xyz="0 0 1"/>
    <dynamics damping="5.0" friction="0.0"/>
    <limit effort="330.0" lower="-3.14159" upper="3.14159" velocity="1.0"/>
    <traits spring_k="2.5"/>
  </joint>
  <link name="r2/left_lower_leg">
    <inertial>
      <mass value="3.7745"/>
      <inertia ixx="0.02163" ixy="-0.001453" ixz="0.003137" iyy="0.01832" iyz="0.004738" izz="0.009798"/>
      <origin rpy="0 0 0" xyz="-0.01485 -0.02188 0.09676"/>
    </inertial>
    <visual>
      <geometry>
        <mesh filename="package://r2_description/meshes/r2c_legs/r2cl_ext_bone2.dae"/>
      </geometry>
      <origin rpy="0 0 0" xyz="0 0 0"/>
    </visual>
    <collision>
      <geometry>
        <mesh filename="package://r2_description/meshes/r2c_legs/r2cl_ext_bone2.dae"/>
      </geometry>
      <origin rpy="0 0 0" xyz="0 0 0"/>
    </collision>
  </link>
  <joint name="r2/left_leg/joint5" type="revolute">
    <parent link="r2/left_lower_leg"/>
    <child link="r2/left_ankle_pitch"/>
    <origin rpy="0.0 -1.570796 3.14159" xyz="-0.002 -0.050 0.157"/>
    <axis xyz="0 0 1"/>
    <dynamics damping="5.0" friction="0.0"/>
    <limit effort="330.0" lower="-0.10472" upper="2.68781" velocity="1.0"/>
    <traits spring_k="2.5"/>
  </joint>
  <link name="r2/left_ankle_pitch">
    <inertial>
      <mass value="4.6734"/>
      <inertia ixx="0.01002" ixy="0.007194" ixz="0.002041" iyy="0.03307" iyz="-0.0007281" izz="0.03728"/>
      <origin rpy="0 0 0" xyz="0.09450 -0.03354 0.008185"/>
    </inertial>
    <visual>
      <geometry>
        <mesh filename="package://r2_description/meshes/r2c_legs/r2cl_ext_bone1.dae"/>
      </geometry>
      <origin rpy="0 0 0" xyz="0 0 0"/>
    </visual>
    <collision>
      <geometry>
        <mesh filename="package://r2_description/meshes/r2c_legs/r2cl_ext_bone1.dae"/>
      </geometry>
      <origin rpy="0 0 0" xyz="0 0 0"/>
    </collision>
  </link>
  <joint name="r2/left_leg/joint6" type="revolute">
    <parent link="r2/left_ankle_pitch"/>
    <child link="r2/left_ankle_roll"/>
    <origin rpy="3.14159 -1.570796 0" xyz="0.199643 -0.0508 0.00325"/>
    <axis xyz="0 0 1"/>
    <dynamics damping="5.0" friction="0.0"/>
    <limit effort="330.0" lower="-3.14159" upper="3.14159" velocity="1.0"/>
    <traits spring_k="2.5"/>
  </joint>
  <link name="r2/left_ankle_roll">
    <inertial>
      <mass value="1.4461"/>
      <inertia ixx="0.001780" ixy="0.00001801" ixz="0.0000002218" iyy="0.001767" iyz="0.0000006717" izz="0.002949"/>
      <origin rpy="0 0 0" xyz="-0.00004402 0.0001052 0.02940"/>
    </inertial>
    <visual>
      <geometry>
        <cylinder length=".06" radius=".066"/>
      </geometry>
      <material name="dirty_white"/>
      <origin rpy="0 0 0" xyz="0 0 0.025"/>
    </visual>
    <collision>
      <geometry>
        <cylinder length=".06" radius=".066"/>
      </geometry>
      <origin rpy="0 0 0" xyz="0 0 0.025"/>
    </collision>
  </link>
  <joint name="r2/fixed/left_ankle_roll/left_leg_ati" type="fixed">
    <parent link="r2/left_ankle_roll"/>
    <child link="r2/left_leg/ati"/>
    <origin rpy="3.1416 0.0 -1.5708" xyz="0.0 0.0 0.070182"/>
  </joint>
  <link name="r2/left_leg/ati">
    <inertial>
      <mass value="0.01"/>
      <inertia ixx="0.0001" ixy="0.0" ixz="0.0" iyy="0.0001" iyz="0.0" izz="0.0001"/>
    </inertial>
  </link>
  <joint name="r2/fixed/left_leg_ati/left_leg_foot" type="fixed">
    <parent link="r2/left_leg/ati"/>
    <child link="r2/left_leg_foot"/>
    <origin rpy="3.1416 0.0 -1.5708" xyz="0.0 0.0 0.0206502"/>
  </joint>
  <link name="r2/left_leg_foot">
    <inertial>
      <mass value="4.63812"/>
      <inertia ixx="0.01951" ixy="-0.00030332" ixz="-0.00011945" iyy="0.017896" iyz="-0.000689634" izz="0.010101"/>
      <origin rpy="0 0 0" xyz="-0.0015 -0.00021835 0.08493"/>
    </inertial>
    <visual>
      <geometry>
        <mesh filename="package://r2_description/meshes/r2c_legs/foot_body.dae"/>
      </geometry>
      <origin rpy="0 0 -1.5708" xyz="0 0 0"/>
    </visual>
    <collision>
      <geometry>
        <mesh filename="package://r2_description/meshes/r2c_legs/foot_body.dae"/>
      </geometry>
      <origin rpy="0 0 -1.5708" xyz="0 0 0"/>
    </collision>
  </link>
  <joint name="r2/fixed/left_leg_foot/left_hr_tip" type="fixed">
    <parent link="r2/left_leg_foot"/>
    <child link="r2/left_leg/gripper/tip"/>
    <origin rpy="0.0 0 0" xyz="0 0 0.19451"/>
  </joint>
  <link name="r2/left_leg/gripper/tip">
    <inertial>
      <mass value="0.01"/>
      <inertia ixx="0.0001" ixy="0.0" ixz="0.0" iyy="0.0001" iyz="0.0" izz="0.0001"/>
    </inertial>
  </link>
  <joint name="r2/fixed/left_leg_foot/left_st_tip" type="fixed">
    <parent link="r2/left_leg_foot"/>
    <child link="r2/left_leg/gripper/st_tip"/>
    <origin rpy="0.0 0 0" xyz="0 0 0.21991"/>
  </joint>
  <link name="r2/left_leg/gripper/st_tip">
    <inertial>
      <mass value="0.01"/>
      <inertia ixx="0.0001" ixy="0.0" ixz="0.0" iyy="0.0001" iyz="0.0" izz="0.0001"/>
    </inertial>
  </link>
  <joint name="r2/fixed/left_leg_foot/left_leg_nano_physical" type="fixed">
    <parent link="r2/left_leg_foot"/>
    <child link="r2/left_leg/nano_physical"/>
    <origin rpy="0 0 0" xyz="-0.025 .07 0.13"/>
  </joint>
  <link name="r2/left_leg/nano_physical">
    <inertial>
      <mass value="0.01"/>
      <inertia ixx="0.0001" ixy="0.0" ixz="0.0" iyy="0.0001" iyz="0.0" izz="0.0001"/>
    </inertial>
  </link>
  <joint name="r2/fixed/left_leg_foot/left_leg_flea_physical" type="fixed">
    <parent link="r2/left_leg_foot"/>
    <child link="r2/left_leg/flea_physical"/>
    <origin rpy="0.0 0 0" xyz="0.025 .07 0.13"/>
  </joint>
  <link name="r2/left_leg/flea_physical">
    <inertial>
      <mass value="0.01"/>
      <inertia ixx="0.0001" ixy="0.0" ixz="0.0" iyy="0.0001" iyz="0.0" izz="0.0001"/>
    </inertial>
  </link>
  <!--  placeholder for screw joint-->
  <joint name="r2/left_leg/gripper/joint0" type="revolute">
    <parent link="r2/left_leg_foot"/>
    <child link="r2/left_leg/gripper/link0"/>
    <origin rpy="0 0 0" xyz="0 0 0"/>
    <axis xyz="0 0 1"/>
    <dynamics damping="1.0" friction="0.0"/>
    <limit effort="330.0" lower="-.1" upper=".75" velocity="1.0"/>
  </joint>
  <link name="r2/left_leg/gripper/link0">
    <inertial>
      <mass value="0.01"/>
      <inertia ixx="0.0001" ixy="0.0" ixz="0.0" iyy="0.0001" iyz="0.0" izz="0.0001"/>
    </inertial>
  </link>
  <joint name="r2/left_leg/gripper/jawLeft" type="revolute">
    <parent link="r2/left_leg_foot"/>
    <child link="r2/left_leg/gripper/jaw_left"/>
    <origin rpy="0.0 -0.087266 0.0" xyz="0.01905 0 0.17546"/>
    <axis xyz="0 1 0"/>
    <dynamics damping="1.0" friction="0.0"/>
    <limit effort="330.0" lower="-.1" upper=".75" velocity="1.0"/>
    <traits spring_k="2.5"/>
  </joint>
  <link name="r2/left_leg/gripper/jaw_left">
    <inertial>
      <mass value="0.01"/>
      <inertia ixx="0.1" ixy="0.0" ixz="0.0" iyy="0.1" iyz="0.0" izz="0.1"/>
      <origin rpy="0 0 -1.5708" xyz="0.00236 0 0.02395"/>
    </inertial>
    <visual>
      <geometry>
        <mesh filename="package://r2_description/meshes/r2c_legs/foot_jaw.dae"/>
      </geometry>
      <origin rpy="0 0 -1.5708" xyz="0 0 0"/>
    </visual>
    <collision>
      <geometry>
        <mesh filename="package://r2_description/meshes/r2c_legs/foot_jaw.dae"/>
      </geometry>
      <origin rpy="0 0 -1.5708" xyz="0 0 0"/>
    </collision>
  </link>
  <joint name="r2/left_leg/gripper/jawRight" type="revolute">
    <parent link="r2/left_leg_foot"/>
    <child link="r2/left_leg/gripper/jaw_right"/>
    <origin rpy="0.0 0.087266 0.0" xyz="-0.01905 0 0.17546"/>
    <axis xyz="0 -1 0"/>
    <dynamics damping="1.0" friction="0.0"/>
    <limit effort="330.0" lower="-.1" upper=".75" velocity="1.0"/>
    <traits spring_k="2.5"/>
  </joint>
  <link name="r2/left_leg/gripper/jaw_right">
    <inertial>
      <mass value="0.01"/>
      <inertia ixx="0.1" ixy="0.0" ixz="0.0" iyy="0.1" iyz="0.0" izz="0.1"/>
      <origin rpy="0 0 1.5708" xyz="0.00236 0 0.02395"/>
    </inertial>
    <visual>
      <geometry>
        <mesh filename="package://r2_description/meshes/r2c_legs/foot_jaw.dae"/>
      </geometry>
      <origin rpy="0 0 1.5708" xyz="0 0 0"/>
    </visual>
    <collision>
      <geometry>
        <mesh filename="package://r2_description/meshes/r2c_legs/foot_jaw.dae"/>
      </geometry>
      <origin rpy="0 0 1.5708" xyz="0 0 0"/>
    </collision>
  </link>
  <joint name="r2/fixed/pelvis/right_leg_base" type="fixed">
    <parent link="r2/pelvis"/>
    <child link="r2/right_leg_base"/>
    <origin rpy="0 0.000000 1.570796" xyz="0.0 0 0.0"/>
  </joint>
  <link name="r2/right_leg_base">
    <inertial>
      <mass value="0.01"/>
      <inertia ixx="0.0001" ixy="0.0" ixz="0.0" iyy="0.0001" iyz="0.0" izz="0.0001"/>
    </inertial>
  </link>
  <joint name="r2/fixed/right_leg_base/right_leg_j0_base" type="fixed">
    <parent link="r2/right_leg_base"/>
    <child link="r2/right_leg_j0_base"/>
    <origin rpy="0.0 1.8325957 0.0" xyz="0.1104900 0.0 -0.0297180"/>
  </joint>
  <link name="r2/right_leg_j0_base">
    <inertial>
      <mass value="0.01"/>
      <inertia ixx="0.0001" ixy="0.0" ixz="0.0" iyy="0.0001" iyz="0.0" izz="0.0001"/>
    </inertial>
  </link>
  <joint name="r2/right_leg/joint0" type="revolute">
    <parent link="r2/right_leg_j0_base"/>
    <child link="r2/right_hip_roll"/>
    <origin rpy="0.0 0.0 0.0" xyz="0 0 0"/>
    <axis xyz="0 0 1"/>
    <dynamics damping="10.0" friction="0.0"/>
    <limit effort="330.0" lower="-3.14159" upper="3.14159" velocity="1.0"/>
    <traits spring_k="2.5"/>
  </joint>
  <link name="r2/right_hip_roll">
    <inertial>
      <mass value="2.5410"/>
      <inertia ixx="0.006434" ixy="0.0007087" ixz="-0.001543" iyy="0.009325" iyz="0.0008694" izz="0.006904"/>
      <origin rpy="0.0 0.0 0.0" xyz="0.03372 -0.02428 0.07903"/>
    </inertial>
    <visual>
      <geometry>
        <mesh filename="package://r2_description/meshes/r2c_legs/r2cl_ext_bone3.dae"/>
      </geometry>
      <origin rpy="0 0 0" xyz="0.0 0.0 0.0"/>
    </visual>
    <collision>
      <geometry>
        <mesh filename="package://r2_description/meshes/r2c_legs/r2cl_ext_bone3.dae"/>
      </geometry>
      <origin rpy="0 0 0" xyz="0.0 0.0 0.0"/>
    </collision>
  </link>
  <joint name="r2/right_leg/joint1" type="revolute">
    <parent link="r2/right_hip_roll"/>
    <child link="r2/right_hip_pitch"/>
    <origin rpy="-1.570796  -0.2617994 0.0000000" xyz="0.050629765 -0.0022860 0.103498576"/>
    <axis xyz="0 0 1"/>
    <dynamics damping="5.0" friction="0.0"/>
    <limit effort="330.0" lower="-1.42244" upper="1.20427" velocity="1.0"/>
    <traits spring_k="2.5"/>
  </joint>
  <link name="r2/right_hip_pitch">
    <inertial>
      <mass value="4.6734"/>
      <inertia ixx="0.01002" ixy="0.007194" ixz="0.002041" iyy="0.03307" iyz="-0.0007281" izz="0.03728"/>
      <origin rpy="0 0 0" xyz="0.09450 -0.03354 0.008185"/>
    </inertial>
    <visual>
      <geometry>
        <mesh filename="package://r2_description/meshes/r2c_legs/r2cl_ext_bone1.dae"/>
      </geometry>
      <origin rpy="0 0 0" xyz="0 0 0"/>
    </visual>
    <collision>
      <geometry>
        <mesh filename="package://r2_description/meshes/r2c_legs/r2cl_ext_bone1.dae"/>
      </geometry>
      <origin rpy="0 0 0" xyz="0 0 0"/>
    </collision>
  </link>
  <joint name="r2/right_leg/joint2" type="revolute">
    <parent link="r2/right_hip_pitch"/>
    <child link="r2/right_upper_leg"/>
    <origin rpy="-1.570796 0.0 -1.570796" xyz="0.200 -0.050 0.004"/>
    <axis xyz="0 0 1"/>
    <dynamics damping="5.0" friction="0.0"/>
    <limit effort="330.0" lower="-3.14159" upper="3.14159" velocity="1.0"/>
    <traits spring_k="2.5"/>
  </joint>
  <link name="r2/right_upper_leg">
    <inertial>
      <mass value="3.7745"/>
      <inertia ixx="0.02163" ixy="-0.001453" ixz="0.003137" iyy="0.01832" iyz="0.004738" izz="0.009798"/>
      <origin rpy="0 0 0" xyz="-0.01485 -0.02188 0.09676"/>
    </inertial>
    <visual>
      <geometry>
        <mesh filename="package://r2_description/meshes/r2c_legs/r2cl_ext_bone2.dae"/>
      </geometry>
      <origin rpy="0 0 0" xyz="0 0 0"/>
    </visual>
    <collision>
      <geometry>
        <mesh filename="package://r2_description/meshes/r2c_legs/r2cl_ext_bone2.dae"/>
      </geometry>
      <origin rpy="0 0 0" xyz="0 0 0.0"/>
    </collision>
  </link>
  <joint name="r2/right_leg/joint3" type="revolute">
    <parent link="r2/right_upper_leg"/>
    <child link="r2/right_knee"/>
    <origin rpy="0.0 -1.570796 3.14159" xyz="-0.00200 -0.050  0.157"/>
    <axis xyz="0 0 1"/>
    <dynamics damping="5.0" friction="0.0"/>
    <limit effort="330.0" lower="-0.10472" upper="2.68781" velocity="1.0"/>
    <traits spring_k="2.5"/>
  </joint>
  <link name="r2/right_knee">
    <inertial>
      <mass value="4.6734"/>
      <inertia ixx="0.01002" ixy="0.007194" ixz="0.002041" iyy="0.03307" iyz="-0.0007281" izz="0.03728"/>
      <origin rpy="0 0 0" xyz="0.09450 -0.03354 0.008185"/>
    </inertial>
    <visual>
      <geometry>
        <mesh filename="package://r2_description/meshes/r2c_legs/r2cl_ext_bone1.dae"/>
      </geometry>
      <origin rpy="0 0 0" xyz="0 0 0"/>
    </visual>
    <collision>
      <geometry>
        <mesh filename="package://r2_description/meshes/r2c_legs/r2cl_ext_bone1.dae"/>
      </geometry>
      <material name="gold"/>
      <origin rpy="0 0 0" xyz="0 0 0"/>
    </collision>
  </link>
  <joint name="r2/right_leg/joint4" type="revolute">
    <parent link="r2/right_knee"/>
    <child link="r2/right_lower_leg"/>
    <origin rpy="0 1.570796 0" xyz="0.200 -0.050 0.004"/>
    <axis xyz="0 0 1"/>
    <dynamics damping="5.0" friction="0.0"/>
    <limit effort="330.0" lower="-3.14159" upper="3.14159" velocity="1.0"/>
    <traits spring_k="2.5"/>
  </joint>
  <link name="r2/right_lower_leg">
    <inertial>
      <mass value="3.7745"/>
      <inertia ixx="0.02163" ixy="-0.001453" ixz="0.003137" iyy="0.01832" iyz="0.004738" izz="0.009798"/>
      <origin rpy="0 0 0" xyz="-0.01485 -0.02188 0.09676"/>
    </inertial>
    <visual>
      <geometry>
        <mesh filename="package://r2_description/meshes/r2c_legs/r2cl_ext_bone2.dae"/>
      </geometry>
      <origin rpy="0 0 0" xyz="0 0 0"/>
    </visual>
    <collision>
      <geometry>
        <mesh filename="package://r2_description/meshes/r2c_legs/r2cl_ext_bone2.dae"/>
      </geometry>
      <origin rpy="0 0 0" xyz="0 0 0.0"/>
    </collision>
  </link>
  <joint name="r2/right_leg/joint5" type="revolute">
    <parent link="r2/right_lower_leg"/>
    <child link="r2/right_ankle_pitch"/>
    <origin rpy="0.0 -1.570796 3.14159" xyz="-0.002 -0.050 0.157"/>
    <axis xyz="0 0 1"/>
    <dynamics damping="5.0" friction="0.0"/>
    <limit effort="330.0" lower="-0.10472" upper="2.68781" velocity="1.0"/>
    <traits spring_k="2.5"/>
  </joint>
  <link name="r2/right_ankle_pitch">
    <inertial>
      <mass value="4.6734"/>
      <inertia ixx="0.01002" ixy="0.007194" ixz="0.002041" iyy="0.03307" iyz="-0.0007281" izz="0.03728"/>
      <origin rpy="0 0 0" xyz="0.09450 -0.03354 0.008185"/>
    </inertial>
    <visual>
      <geometry>
        <mesh filename="package://r2_description/meshes/r2c_legs/r2cl_ext_bone1.dae"/>
      </geometry>
      <origin rpy="0 0 0" xyz="0 0 0"/>
    </visual>
    <collision>
      <geometry>
        <mesh filename="package://r2_description/meshes/r2c_legs/r2cl_ext_bone1.dae"/>
      </geometry>
      <origin rpy="0 0 0" xyz="0 0 0"/>
    </collision>
  </link>
  <joint name="r2/right_leg/joint6" type="revolute">
    <parent link="r2/right_ankle_pitch"/>
    <child link="r2/right_ankle_roll"/>
    <origin rpy="3.14159 -1.570796 0 " xyz="0.199643 -0.0508 0.00325"/>
    <axis xyz="0 0 1"/>
    <dynamics damping="5.0" friction="0.0"/>
    <limit effort="330.0" lower="-3.14159" upper="3.14159" velocity="1.0"/>
    <traits spring_k="2.5"/>
  </joint>
  <link name="r2/right_ankle_roll">
    <inertial>
      <mass value="1.4461"/>
      <inertia ixx="0.001780" ixy="0.00001801" ixz="0.0000002218" iyy="0.001767" iyz="0.0000006717" izz="0.002949"/>
      <origin rpy="0 0 0" xyz="-0.00004402 0.0001052 0.02940"/>
    </inertial>
    <visual>
      <geometry>
        <cylinder length=".06" radius=".066"/>
      </geometry>
      <material name="dirty_white"/>
      <origin rpy="0 0 0" xyz="0 0 0.025"/>
    </visual>
    <collision>
      <geometry>
        <cylinder length=".06" radius=".066"/>
      </geometry>
      <origin rpy="0 0 0" xyz="0 0 0.025"/>
    </collision>
  </link>
  <joint name="r2/fixed/right_ankle_roll/right_leg_ati" type="fixed">
    <parent link="r2/right_ankle_roll"/>
    <child link="r2/right_leg/ati"/>
    <origin rpy="3.1416 0.0 -1.5708" xyz="0.0 0.0 0.070182"/>
  </joint>
  <link name="r2/right_leg/ati">
    <inertial>
      <mass value="0.01"/>
      <inertia ixx="0.0001" ixy="0.0" ixz="0.0" iyy="0.0001" iyz="0.0" izz="0.0001"/>
    </inertial>
  </link>
  <joint name="r2/fixed/right_leg_ati/right_leg_foot" type="fixed">
    <parent link="r2/right_leg/ati"/>
    <child link="r2/right_leg_foot"/>
    <origin rpy="3.1416 0.0 -1.5708" xyz="0.0 0.0 0.0206502"/>
  </joint>
  <link name="r2/right_leg_foot">
    <inertial>
      <mass value="4.63812"/>
      <inertia ixx="0.01951" ixy="-0.00030332" ixz="-0.00011945" iyy="0.017896" iyz="-0.000689634" izz="0.010101"/>
      <origin rpy="0 0 0" xyz="-0.0015 -0.00021835 0.08493"/>
    </inertial>
    <visual>
      <geometry>
        <mesh filename="package://r2_description/meshes/r2c_legs/foot_body.dae"/>
      </geometry>
      <origin rpy="0 0 -1.5708" xyz="0 0 0"/>
    </visual>
    <collision>
      <geometry>
        <mesh filename="package://r2_description/meshes/r2c_legs/foot_body.dae"/>
      </geometry>
      <origin rpy="0 0 -1.5708" xyz="0 0 0"/>
    </collision>
  </link>
  <joint name="r2/fixed/right_leg_foot/right_hr_tip" type="fixed">
    <parent link="r2/right_leg_foot"/>
    <child link="r2/right_leg/gripper/tip"/>
    <origin rpy="0.0 0 0" xyz="0 0 0.19451"/>
  </joint>
  <link name="r2/right_leg/gripper/tip">
    <inertial>
      <mass value="0.01"/>
      <inertia ixx="0.0001" ixy="0.0" ixz="0.0" iyy="0.0001" iyz="0.0" izz="0.0001"/>
    </inertial>
  </link>
  <joint name="r2/fixed/right_leg_foot/right_st_tip" type="fixed">
    <parent link="r2/right_leg_foot"/>
    <child link="r2/right_leg/gripper/st_tip"/>
    <origin rpy="0.0 0 0" xyz="0 0 0.21991"/>
  </joint>
  <link name="r2/right_leg/gripper/st_tip">
    <inertial>
      <mass value="0.01"/>
      <inertia ixx="0.0001" ixy="0.0" ixz="0.0" iyy="0.0001" iyz="0.0" izz="0.0001"/>
    </inertial>
  </link>
  <joint name="r2/fixed/right_leg_foot/right_leg_nano_physical" type="fixed">
    <parent link="r2/right_leg_foot"/>
    <child link="r2/right_leg/nano_physical"/>
    <origin rpy="0 0 0" xyz="-0.025 .07 0.13"/>
  </joint>
  <link name="r2/right_leg/nano_physical">
    <inertial>
      <mass value="0.01"/>
      <inertia ixx="0.0001" ixy="0.0" ixz="0.0" iyy="0.0001" iyz="0.0" izz="0.0001"/>
    </inertial>
  </link>
  <joint name="r2/fixed/right_leg_foot/right_leg_flea_physical" type="fixed">
    <parent link="r2/right_leg_foot"/>
    <child link="r2/right_leg/flea_physical"/>
    <origin rpy="0.0 0 0" xyz="0.025 .07 0.13"/>
  </joint>
  <link name="r2/right_leg/flea_physical">
    <inertial>
      <mass value="0.01"/>
      <inertia ixx="0.0001" ixy="0.0" ixz="0.0" iyy="0.0001" iyz="0.0" izz="0.0001"/>
    </inertial>
  </link>
  <!--  placeholder for screw joint-->
  <joint name="r2/right_leg/gripper/joint0" type="revolute">
    <parent link="r2/right_leg_foot"/>
    <child link="r2/right_leg/gripper/link0"/>
    <origin rpy="0.0 0 0" xyz="0 0 0"/>
    <axis xyz="0 0 1"/>
    <dynamics damping="1.0" friction="0.0"/>
    <limit effort="330.0" lower="-.1" upper=".75" velocity="1.0"/>
  </joint>
  <link name="r2/right_leg/gripper/link0">
    <inertial>
      <mass value="0.01"/>
      <inertia ixx="0.0001" ixy="0.0" ixz="0.0" iyy="0.0001" iyz="0.0" izz="0.0001"/>
    </inertial>
  </link>
  <joint name="r2/right_leg/gripper/jawLeft" type="revolute">
    <parent link="r2/right_leg_foot"/>
    <child link="r2/right_leg/gripper/jaw_left"/>
    <origin rpy="0.0 -0.087266 0.0 " xyz="0.01905 0 0.17546"/>
    <axis xyz="0 1 0"/>
    <dynamics damping="1.0" friction="0.0"/>
    <limit effort="330.0" lower="-.1" upper=".75" velocity="1.0"/>
    <traits spring_k="2.5"/>
  </joint>
  <link name="r2/right_leg/gripper/jaw_left">
    <inertial>
      <mass value="0.01"/>
      <inertia ixx="0.1" ixy="0.0" ixz="0.0" iyy="0.1" iyz="0.0" izz="0.1"/>
      <origin rpy="0 0 -1.5708" xyz="0.00236 0 0.02395"/>
    </inertial>
    <visual>
      <geometry>
        <mesh filename="package://r2_description/meshes/r2c_legs/foot_jaw.dae"/>
      </geometry>
      <origin rpy="0 0 -1.5708" xyz="0 0 0"/>
    </visual>
    <collision>
      <geometry>
        <mesh filename="package://r2_description/meshes/r2c_legs/foot_jaw.dae"/>
      </geometry>
      <origin rpy="0 0 -1.5708" xyz="0 0 0"/>
    </collision>
  </link>
  <joint name="r2/right_leg/gripper/jawRight" type="revolute">
    <parent link="r2/right_leg_foot"/>
    <child link="r2/right_leg/gripper/jaw_right"/>
    <origin rpy="0.0 0.087266 0.0 " xyz="-0.01905 0 0.17546"/>
    <axis xyz="0 -1 0"/>
    <dynamics damping="1.0" friction="0.0"/>
    <limit effort="330.0" lower="-.1" upper=".75" velocity="1.0"/>
    <traits spring_k="2.5"/>
  </joint>
  <link name="r2/right_leg/gripper/jaw_right">
    <inertial>
      <mass value="0.01"/>
      <inertia ixx="0.1" ixy="0.0" ixz="0.0" iyy="0.1" iyz="0.0" izz="0.1"/>
      <origin rpy="0 0 1.5708" xyz="0.00236 0 0.02395"/>
    </inertial>
    <visual>
      <geometry>
        <mesh filename="package://r2_description/meshes/r2c_legs/foot_jaw.dae"/>
      </geometry>
      <origin rpy="0 0 1.5708" xyz="0 0 0"/>
    </visual>
    <collision>
      <geometry>
        <mesh filename="package://r2_description/meshes/r2c_legs/foot_jaw.dae"/>
      </geometry>
      <origin rpy="0 0 1.5708" xyz="0 0 0"/>
    </collision>
  </link>
</robot>
